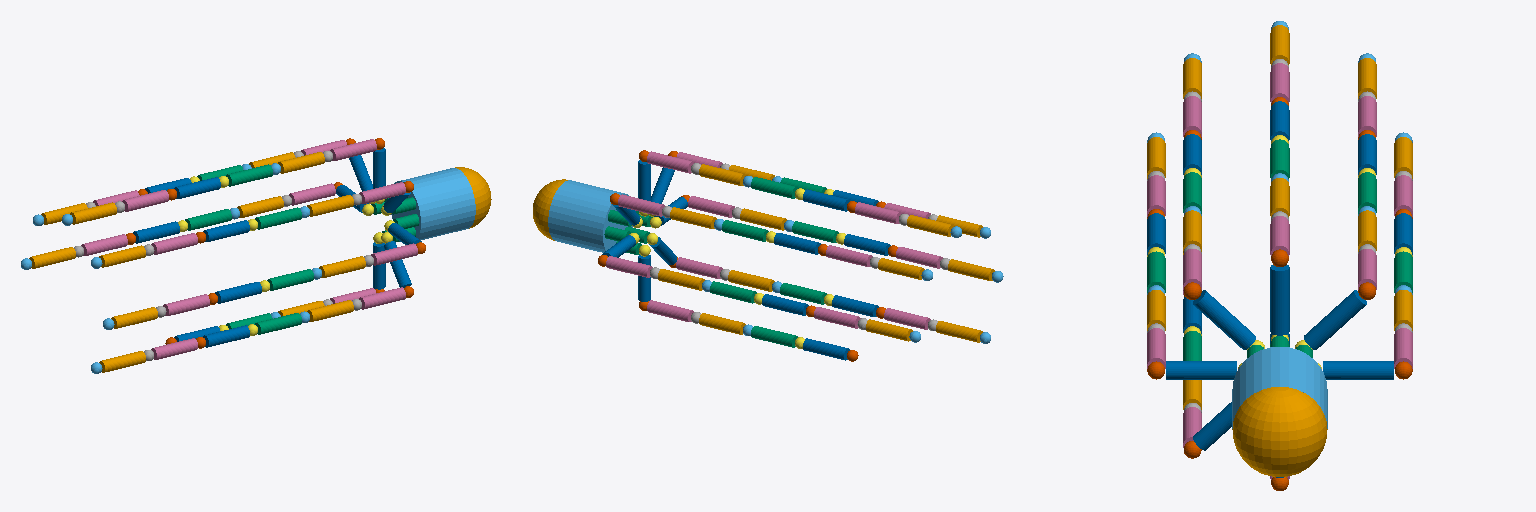
--- Render facts (derived) ---
3 views of the same robot in one strip: view 1: azimuth 30°, elevation 25°; view 2: azimuth 150°, elevation 25°; view 3: azimuth 270°, elevation 25° (orthographic).
Model sentinel/octopus_7_arms_4_segments with 110 links and 109 joints (40 revolute, 69 fixed), rooted at eye, posed all joints at 0.
Visible links, largest first — view 1: head, eye, branch_41_cylinder, branch_51_cylinder, branch_54_cylinder, branch_04_cylinder, branch_33_cylinder, branch_44_cylinder, branch_23_cylinder, branch_25_cylinder, branch_26_cylinder, branch_32_cylinder (+20 smaller); view 2: head, eye, branch_14_cylinder, branch_21_cylinder, branch_24_cylinder, branch_45_cylinder, branch_03_cylinder, branch_11_cylinder, branch_42_cylinder, branch_54_cylinder, branch_56_cylinder, branch_02_cylinder (+24 smaller); view 3: eye, head, branch_20_cylinder, branch_10_cylinder, branch_30_cylinder, branch_00_cylinder, branch_40_cylinder, branch_50_cylinder, branch_25_cylinder, branch_21_cylinder, branch_26_cylinder, branch_23_cylinder (+28 smaller).
Boxes of the visible links, left/top/right/bottom form: head: left=391, top=168, right=475, bottom=240; eye: left=455, top=167, right=491, bottom=228; branch_41_cylinder: left=371, top=243, right=417, bottom=265; branch_51_cylinder: left=359, top=287, right=405, bottom=309; branch_54_cylinder: left=203, top=325, right=249, bottom=347; branch_04_cylinder: left=133, top=221, right=179, bottom=243; branch_33_cylinder: left=255, top=207, right=301, bottom=229; branch_44_cylinder: left=215, top=282, right=261, bottom=303; branch_23_cylinder: left=226, top=164, right=272, bottom=186; branch_25_cylinder: left=122, top=190, right=168, bottom=211; branch_26_cylinder: left=70, top=202, right=116, bottom=224; branch_32_cylinder: left=307, top=195, right=353, bottom=216; head: left=548, top=180, right=632, bottom=252; eye: left=533, top=179, right=567, bottom=240; branch_14_cylinder: left=774, top=233, right=820, bottom=254; branch_21_cylinder: left=647, top=151, right=693, bottom=173; branch_24_cylinder: left=803, top=189, right=849, bottom=211; branch_45_cylinder: left=896, top=247, right=942, bottom=268; branch_03_cylinder: left=710, top=281, right=756, bottom=303; branch_11_cylinder: left=618, top=194, right=664, bottom=216; branch_42_cylinder: left=740, top=208, right=786, bottom=230; branch_54_cylinder: left=832, top=295, right=878, bottom=316; branch_56_cylinder: left=936, top=321, right=982, bottom=342; branch_02_cylinder: left=658, top=269, right=704, bottom=290; eye: left=1232, top=387, right=1327, bottom=476; head: left=1232, top=347, right=1327, bottom=428; branch_20_cylinder: left=1270, top=265, right=1289, bottom=335; branch_10_cylinder: left=1304, top=290, right=1366, bottom=349; branch_30_cylinder: left=1193, top=290, right=1255, bottom=349; branch_00_cylinder: left=1323, top=361, right=1393, bottom=379; branch_40_cylinder: left=1166, top=361, right=1236, bottom=379; branch_50_cylinder: left=1193, top=402, right=1231, bottom=450; branch_25_cylinder: left=1270, top=63, right=1289, bottom=102; branch_21_cylinder: left=1270, top=216, right=1289, bottom=255; branch_26_cylinder: left=1270, top=25, right=1289, bottom=64; branch_23_cylinder: left=1270, top=139, right=1289, bottom=178.
Bounding box of the posed robot: 1.55 × 0.56 × 0.5601 m (x, y, z).
Geometry: primitives only (box / cylinder / sphere), no mesh files.

robot.urdf — sentinel/octopus_7_arms_4_segments:
<?xml version="1.0"?>
<robot name="sentinel/octopus_7_arms_4_segments">
<link name="eye">
  <inertial>
   <mass value="1"/>
   <inertia ixx="0.004000000000000001" ixy="0" ixz="0" iyy="0.004000000000000001" iyz="0" izz="0.004000000000000001"/>
  </inertial>
  <collision>
    <origin rpy="0 0 0" xyz="0 0 0"/>
    <geometry>
      <sphere radius="0.1"/>
    </geometry>
  </collision>
  <visual>
    <origin rpy="0 0 0" xyz="0 0 0"/>
    <geometry>
      <sphere radius="0.1"/>
    </geometry>
  </visual>
</link>

 <link name="head">
  <inertial>
    <mass value="1"/>
    <inertia ixx="0.0058333333333333345" ixy="0" ixz="0" iyy="0.0058333333333333345" iyz="0" izz="0.0025000000000000005"/>
  </inertial>
  <visual>
    <origin rpy="0 1.57 0" xyz="-0.1 0 0"/>
    <geometry>
      <cylinder length="0.2" radius="0.1"/>
    </geometry>
  </visual>
  <collision>
    <origin rpy="0 1.57 0" xyz="-0.1 0 0"/>
    <geometry>
      <cylinder length="0.2" radius="0.1"/>
    </geometry>
  </collision>
 </link>

<joint name="joint_fixed_eye_head" type="fixed">
  <origin rpy="0 0 0" xyz="0 0 0"/>
  <parent link="eye"/>
  <child link="head"/>
</joint>

<!--############################################################################
branch_00
##############################################################################-->
 <link name="branch_00_cylinder_stub">
  <inertial>
    <mass value="1"/>
    <inertia ixx="0.0005687499999999999" ixy="0" ixz="0" iyy="0.0005687499999999999" iyz="0" izz="0.0001"/>
  </inertial>
  <visual>
    <origin rpy="0 1.57 0" xyz="-0.0375 0 0"/>
    <geometry>
      <cylinder length="0.075" radius="0.02"/>
    </geometry>
  </visual>
  <collision>
    <origin rpy="0 1.57 0" xyz="-0.0375 0 0"/>
    <geometry>
      <cylinder length="0.075" radius="0.02"/>
    </geometry>
  </collision>
 </link>

<joint name="joint_fixed_head_branch_00_cylinder_stub" type="fixed">
  <origin rpy="0 0 0" xyz="-0.2 0.06999999999999999 0.0"/>
  <parent link="head"/>
  <child link="branch_00_cylinder_stub"/>
</joint>

<link name="branch_00_sphere_stub">
  <inertial>
   <mass value="1"/>
   <inertia ixx="0.00014439999999999999" ixy="0" ixz="0" iyy="0.00014439999999999999" iyz="0" izz="0.00014439999999999999"/>
  </inertial>
  <collision>
    <origin rpy="0 0 0" xyz="-0.095 0 0"/>
    <geometry>
      <sphere radius="0.019"/>
    </geometry>
  </collision>
  <visual>
    <origin rpy="0 0 0" xyz="-0.095 0 0"/>
    <geometry>
      <sphere radius="0.019"/>
    </geometry>
  </visual>
</link>

<joint name="joint_fixed_branch_00_cylinder_stub_branch_00_sphere_stub" type="fixed">
  <origin rpy="0 0 0" xyz="0 0 0"/>
  <parent link="branch_00_cylinder_stub"/>
  <child link="branch_00_sphere_stub"/>
</joint>

 <link name="branch_00_cylinder">
  <inertial>
    <mass value="1"/>
    <inertia ixx="0.0019749999999999998" ixy="0" ixz="0" iyy="0.0019749999999999998" iyz="0" izz="0.0001"/>
  </inertial>
  <visual>
    <origin rpy="0 1.5707963267948966 1.57" xyz="-0.095 0.095 0.0"/>
    <geometry>
      <cylinder length="0.15" radius="0.02"/>
    </geometry>
  </visual>
  <collision>
    <origin rpy="0 1.5707963267948966 1.57" xyz="-0.095 0.095 0.0"/>
    <geometry>
      <cylinder length="0.15" radius="0.02"/>
    </geometry>
  </collision>
 </link>

<joint name="joint_fixed_branch_00_sphere_stub_branch_00_cylinder" type="fixed">
  <origin rpy="0 0 0" xyz="0 0 0"/>
  <parent link="branch_00_sphere_stub"/>
  <child link="branch_00_cylinder"/>
</joint>

<link name="branch_00">
  <inertial>
   <mass value="1"/>
   <inertia ixx="0.00014439999999999999" ixy="0" ixz="0" iyy="0.00014439999999999999" iyz="0" izz="0.00014439999999999999"/>
  </inertial>
  <collision>
    <origin rpy="0 0 0" xyz="0 0 0"/>
    <geometry>
      <sphere radius="0.019"/>
    </geometry>
  </collision>
  <visual>
    <origin rpy="0 0 0" xyz="0 0 0"/>
    <geometry>
      <sphere radius="0.019"/>
    </geometry>
  </visual>
</link>

<joint name="joint_fixed_branch_00_cylinder_branch_00" type="fixed">
  <origin rpy="0 0 0" xyz="-0.095 0.19 0.0"/>
  <parent link="branch_00_cylinder"/>
  <child link="branch_00"/>
</joint>

<!--############################################################################
branch_01
##############################################################################-->
 <link name="branch_01_cylinder">
  <inertial>
    <mass value="1"/>
    <inertia ixx="0.0019749999999999998" ixy="0" ixz="0" iyy="0.0019749999999999998" iyz="0" izz="0.0001"/>
  </inertial>
  <visual>
    <origin rpy="0 1.57 0" xyz="-0.095 0 0"/>
    <geometry>
      <cylinder length="0.15" radius="0.02"/>
    </geometry>
  </visual>
  <collision>
    <origin rpy="0 1.57 0" xyz="-0.095 0 0"/>
    <geometry>
      <cylinder length="0.15" radius="0.02"/>
    </geometry>
  </collision>
 </link>

<joint name="joint_revolute_branch_00_branch_01_cylinder_Z" type="revolute">
  <origin rpy="0 0 0" xyz="0 0 0"/>
  <parent link="branch_00"/>
  <child link="branch_01_cylinder"/>
  <axis xyz="0 0.0 -1.0"/>
  <dynamics damping="0.01" friction="0.5"/>
  <limit lower="-1.5707963267948966" upper="1.5707963267948966" effort="0.01" velocity="100"/>
</joint>

<link name="branch_01">
  <inertial>
   <mass value="1"/>
   <inertia ixx="0.00014439999999999999" ixy="0" ixz="0" iyy="0.00014439999999999999" iyz="0" izz="0.00014439999999999999"/>
  </inertial>
  <collision>
    <origin rpy="0 0 0" xyz="0 0 0"/>
    <geometry>
      <sphere radius="0.019"/>
    </geometry>
  </collision>
  <visual>
    <origin rpy="0 0 0" xyz="0 0 0"/>
    <geometry>
      <sphere radius="0.019"/>
    </geometry>
  </visual>
</link>

<joint name="joint_fixed_branch_01_cylinder_branch_01" type="fixed">
  <origin rpy="0 0 0" xyz="-0.19 0 0"/>
  <parent link="branch_01_cylinder"/>
  <child link="branch_01"/>
</joint>

<!--############################################################################
branch_02
##############################################################################-->
 <link name="branch_02_cylinder">
  <inertial>
    <mass value="1"/>
    <inertia ixx="0.0019749999999999998" ixy="0" ixz="0" iyy="0.0019749999999999998" iyz="0" izz="0.0001"/>
  </inertial>
  <visual>
    <origin rpy="0 1.57 0" xyz="-0.095 0 0"/>
    <geometry>
      <cylinder length="0.15" radius="0.02"/>
    </geometry>
  </visual>
  <collision>
    <origin rpy="0 1.57 0" xyz="-0.095 0 0"/>
    <geometry>
      <cylinder length="0.15" radius="0.02"/>
    </geometry>
  </collision>
 </link>

<joint name="joint_revolute_branch_01_branch_02_cylinder_Z" type="revolute">
  <origin rpy="0 0 0" xyz="0 0 0"/>
  <parent link="branch_01"/>
  <child link="branch_02_cylinder"/>
  <axis xyz="0 0.0 -1.0"/>
  <dynamics damping="0.01" friction="0.5"/>
  <limit lower="-1.5707963267948966" upper="1.5707963267948966" effort="0.01" velocity="100"/>
</joint>

<link name="branch_02">
  <inertial>
   <mass value="1"/>
   <inertia ixx="0.00014439999999999999" ixy="0" ixz="0" iyy="0.00014439999999999999" iyz="0" izz="0.00014439999999999999"/>
  </inertial>
  <collision>
    <origin rpy="0 0 0" xyz="0 0 0"/>
    <geometry>
      <sphere radius="0.019"/>
    </geometry>
  </collision>
  <visual>
    <origin rpy="0 0 0" xyz="0 0 0"/>
    <geometry>
      <sphere radius="0.019"/>
    </geometry>
  </visual>
</link>

<joint name="joint_fixed_branch_02_cylinder_branch_02" type="fixed">
  <origin rpy="0 0 0" xyz="-0.19 0 0"/>
  <parent link="branch_02_cylinder"/>
  <child link="branch_02"/>
</joint>

<!--############################################################################
branch_03
##############################################################################-->
 <link name="branch_03_cylinder">
  <inertial>
    <mass value="1"/>
    <inertia ixx="0.0019749999999999998" ixy="0" ixz="0" iyy="0.0019749999999999998" iyz="0" izz="0.0001"/>
  </inertial>
  <visual>
    <origin rpy="0 1.57 0" xyz="-0.095 0 0"/>
    <geometry>
      <cylinder length="0.15" radius="0.02"/>
    </geometry>
  </visual>
  <collision>
    <origin rpy="0 1.57 0" xyz="-0.095 0 0"/>
    <geometry>
      <cylinder length="0.15" radius="0.02"/>
    </geometry>
  </collision>
 </link>

<joint name="joint_revolute_branch_02_branch_03_cylinder_Z" type="revolute">
  <origin rpy="0 0 0" xyz="0 0 0"/>
  <parent link="branch_02"/>
  <child link="branch_03_cylinder"/>
  <axis xyz="0 0.0 -1.0"/>
  <dynamics damping="0.01" friction="0.5"/>
  <limit lower="-1.5707963267948966" upper="1.5707963267948966" effort="0.01" velocity="100"/>
</joint>

<link name="branch_03">
  <inertial>
   <mass value="1"/>
   <inertia ixx="0.00014439999999999999" ixy="0" ixz="0" iyy="0.00014439999999999999" iyz="0" izz="0.00014439999999999999"/>
  </inertial>
  <collision>
    <origin rpy="0 0 0" xyz="0 0 0"/>
    <geometry>
      <sphere radius="0.019"/>
    </geometry>
  </collision>
  <visual>
    <origin rpy="0 0 0" xyz="0 0 0"/>
    <geometry>
      <sphere radius="0.019"/>
    </geometry>
  </visual>
</link>

<joint name="joint_fixed_branch_03_cylinder_branch_03" type="fixed">
  <origin rpy="0 0 0" xyz="-0.19 0 0"/>
  <parent link="branch_03_cylinder"/>
  <child link="branch_03"/>
</joint>

<!--############################################################################
branch_04
##############################################################################-->
 <link name="branch_04_cylinder">
  <inertial>
    <mass value="1"/>
    <inertia ixx="0.0019749999999999998" ixy="0" ixz="0" iyy="0.0019749999999999998" iyz="0" izz="0.0001"/>
  </inertial>
  <visual>
    <origin rpy="0 1.57 0" xyz="-0.095 0 0"/>
    <geometry>
      <cylinder length="0.15" radius="0.02"/>
    </geometry>
  </visual>
  <collision>
    <origin rpy="0 1.57 0" xyz="-0.095 0 0"/>
    <geometry>
      <cylinder length="0.15" radius="0.02"/>
    </geometry>
  </collision>
 </link>

<joint name="joint_revolute_branch_03_branch_04_cylinder_Z" type="revolute">
  <origin rpy="0 0 0" xyz="0 0 0"/>
  <parent link="branch_03"/>
  <child link="branch_04_cylinder"/>
  <axis xyz="0 0.0 -1.0"/>
  <dynamics damping="0.01" friction="0.5"/>
  <limit lower="-1.5707963267948966" upper="1.5707963267948966" effort="0.01" velocity="100"/>
</joint>

<link name="branch_04">
  <inertial>
   <mass value="1"/>
   <inertia ixx="0.00014439999999999999" ixy="0" ixz="0" iyy="0.00014439999999999999" iyz="0" izz="0.00014439999999999999"/>
  </inertial>
  <collision>
    <origin rpy="0 0 0" xyz="0 0 0"/>
    <geometry>
      <sphere radius="0.019"/>
    </geometry>
  </collision>
  <visual>
    <origin rpy="0 0 0" xyz="0 0 0"/>
    <geometry>
      <sphere radius="0.019"/>
    </geometry>
  </visual>
</link>

<joint name="joint_fixed_branch_04_cylinder_branch_04" type="fixed">
  <origin rpy="0 0 0" xyz="-0.19 0 0"/>
  <parent link="branch_04_cylinder"/>
  <child link="branch_04"/>
</joint>

<!--############################################################################
branch_05
##############################################################################-->
 <link name="branch_05_cylinder">
  <inertial>
    <mass value="1"/>
    <inertia ixx="0.0019749999999999998" ixy="0" ixz="0" iyy="0.0019749999999999998" iyz="0" izz="0.0001"/>
  </inertial>
  <visual>
    <origin rpy="0 1.57 0" xyz="-0.095 0 0"/>
    <geometry>
      <cylinder length="0.15" radius="0.02"/>
    </geometry>
  </visual>
  <collision>
    <origin rpy="0 1.57 0" xyz="-0.095 0 0"/>
    <geometry>
      <cylinder length="0.15" radius="0.02"/>
    </geometry>
  </collision>
 </link>

<joint name="joint_revolute_branch_04_branch_05_cylinder_Z" type="revolute">
  <origin rpy="0 0 0" xyz="0 0 0"/>
  <parent link="branch_04"/>
  <child link="branch_05_cylinder"/>
  <axis xyz="0 0.0 -1.0"/>
  <dynamics damping="0.01" friction="0.5"/>
  <limit lower="-1.5707963267948966" upper="1.5707963267948966" effort="0.01" velocity="100"/>
</joint>

<link name="branch_05">
  <inertial>
   <mass value="1"/>
   <inertia ixx="0.00014439999999999999" ixy="0" ixz="0" iyy="0.00014439999999999999" iyz="0" izz="0.00014439999999999999"/>
  </inertial>
  <collision>
    <origin rpy="0 0 0" xyz="0 0 0"/>
    <geometry>
      <sphere radius="0.019"/>
    </geometry>
  </collision>
  <visual>
    <origin rpy="0 0 0" xyz="0 0 0"/>
    <geometry>
      <sphere radius="0.019"/>
    </geometry>
  </visual>
</link>

<joint name="joint_fixed_branch_05_cylinder_branch_05" type="fixed">
  <origin rpy="0 0 0" xyz="-0.19 0 0"/>
  <parent link="branch_05_cylinder"/>
  <child link="branch_05"/>
</joint>

<!--############################################################################
branch_06
##############################################################################-->
 <link name="branch_06_cylinder">
  <inertial>
    <mass value="1"/>
    <inertia ixx="0.0019749999999999998" ixy="0" ixz="0" iyy="0.0019749999999999998" iyz="0" izz="0.0001"/>
  </inertial>
  <visual>
    <origin rpy="0 1.57 0" xyz="-0.095 0 0"/>
    <geometry>
      <cylinder length="0.15" radius="0.02"/>
    </geometry>
  </visual>
  <collision>
    <origin rpy="0 1.57 0" xyz="-0.095 0 0"/>
    <geometry>
      <cylinder length="0.15" radius="0.02"/>
    </geometry>
  </collision>
 </link>

<joint name="joint_revolute_branch_05_branch_06_cylinder_Z" type="revolute">
  <origin rpy="0 0 0" xyz="0 0 0"/>
  <parent link="branch_05"/>
  <child link="branch_06_cylinder"/>
  <axis xyz="0 0.0 -1.0"/>
  <dynamics damping="0.01" friction="0.5"/>
  <limit lower="-1.5707963267948966" upper="1.5707963267948966" effort="0.01" velocity="100"/>
</joint>

<link name="branch_06">
  <inertial>
   <mass value="1"/>
   <inertia ixx="0.00014439999999999999" ixy="0" ixz="0" iyy="0.00014439999999999999" iyz="0" izz="0.00014439999999999999"/>
  </inertial>
  <collision>
    <origin rpy="0 0 0" xyz="0 0 0"/>
    <geometry>
      <sphere radius="0.019"/>
    </geometry>
  </collision>
  <visual>
    <origin rpy="0 0 0" xyz="0 0 0"/>
    <geometry>
      <sphere radius="0.019"/>
    </geometry>
  </visual>
</link>

<joint name="joint_fixed_branch_06_cylinder_branch_06" type="fixed">
  <origin rpy="0 0 0" xyz="-0.19 0 0"/>
  <parent link="branch_06_cylinder"/>
  <child link="branch_06"/>
</joint>

<!--############################################################################
branch_10
##############################################################################-->
 <link name="branch_10_cylinder_stub">
  <inertial>
    <mass value="1"/>
    <inertia ixx="0.0005687499999999999" ixy="0" ixz="0" iyy="0.0005687499999999999" iyz="0" izz="0.0001"/>
  </inertial>
  <visual>
    <origin rpy="0 1.57 0" xyz="-0.0375 0 0"/>
    <geometry>
      <cylinder length="0.075" radius="0.02"/>
    </geometry>
  </visual>
  <collision>
    <origin rpy="0 1.57 0" xyz="-0.0375 0 0"/>
    <geometry>
      <cylinder length="0.075" radius="0.02"/>
    </geometry>
  </collision>
 </link>

<joint name="joint_fixed_head_branch_10_cylinder_stub" type="fixed">
  <origin rpy="0 0 0" xyz="-0.2 0.049497474683058325 0.04949747468305832"/>
  <parent link="head"/>
  <child link="branch_10_cylinder_stub"/>
</joint>

<link name="branch_10_sphere_stub">
  <inertial>
   <mass value="1"/>
   <inertia ixx="0.00014439999999999999" ixy="0" ixz="0" iyy="0.00014439999999999999" iyz="0" izz="0.00014439999999999999"/>
  </inertial>
  <collision>
    <origin rpy="0 0 0" xyz="-0.095 0 0"/>
    <geometry>
      <sphere radius="0.019"/>
    </geometry>
  </collision>
  <visual>
    <origin rpy="0 0 0" xyz="-0.095 0 0"/>
    <geometry>
      <sphere radius="0.019"/>
    </geometry>
  </visual>
</link>

<joint name="joint_fixed_branch_10_cylinder_stub_branch_10_sphere_stub" type="fixed">
  <origin rpy="0 0 0" xyz="0 0 0"/>
  <parent link="branch_10_cylinder_stub"/>
  <child link="branch_10_sphere_stub"/>
</joint>

 <link name="branch_10_cylinder">
  <inertial>
    <mass value="1"/>
    <inertia ixx="0.0019749999999999998" ixy="0" ixz="0" iyy="0.0019749999999999998" iyz="0" izz="0.0001"/>
  </inertial>
  <visual>
    <origin rpy="0 0.7853981633974484 1.57" xyz="-0.095 0.06717514421272201 0.06717514421272201"/>
    <geometry>
      <cylinder length="0.15" radius="0.02"/>
    </geometry>
  </visual>
  <collision>
    <origin rpy="0 0.7853981633974484 1.57" xyz="-0.095 0.06717514421272201 0.06717514421272201"/>
    <geometry>
      <cylinder length="0.15" radius="0.02"/>
    </geometry>
  </collision>
 </link>

<joint name="joint_fixed_branch_10_sphere_stub_branch_10_cylinder" type="fixed">
  <origin rpy="0 0 0" xyz="0 0 0"/>
  <parent link="branch_10_sphere_stub"/>
  <child link="branch_10_cylinder"/>
</joint>

<link name="branch_10">
  <inertial>
   <mass value="1"/>
   <inertia ixx="0.00014439999999999999" ixy="0" ixz="0" iyy="0.00014439999999999999" iyz="0" izz="0.00014439999999999999"/>
  </inertial>
  <collision>
    <origin rpy="0 0 0" xyz="0 0 0"/>
    <geometry>
      <sphere radius="0.019"/>
    </geometry>
  </collision>
  <visual>
    <origin rpy="0 0 0" xyz="0 0 0"/>
    <geometry>
      <sphere radius="0.019"/>
    </geometry>
  </visual>
</link>

<joint name="joint_fixed_branch_10_cylinder_branch_10" type="fixed">
  <origin rpy="0 0 0" xyz="-0.095 0.13435028842544403 0.13435028842544403"/>
  <parent link="branch_10_cylinder"/>
  <child link="branch_10"/>
</joint>

<!--############################################################################
branch_11
##############################################################################-->
 <link name="branch_11_cylinder">
  <inertial>
    <mass value="1"/>
    <inertia ixx="0.0019749999999999998" ixy="0" ixz="0" iyy="0.0019749999999999998" iyz="0" izz="0.0001"/>
  </inertial>
  <visual>
    <origin rpy="0 1.57 0" xyz="-0.095 0 0"/>
    <geometry>
      <cylinder length="0.15" radius="0.02"/>
    </geometry>
  </visual>
  <collision>
    <origin rpy="0 1.57 0" xyz="-0.095 0 0"/>
    <geometry>
      <cylinder length="0.15" radius="0.02"/>
    </geometry>
  </collision>
 </link>

<joint name="joint_revolute_branch_10_branch_11_cylinder_Z" type="revolute">
  <origin rpy="0 0 0" xyz="0 0 0"/>
  <parent link="branch_10"/>
  <child link="branch_11_cylinder"/>
  <axis xyz="0 0.7071067811865475 -0.7071067811865476"/>
  <dynamics damping="0.01" friction="0.5"/>
  <limit lower="-1.5707963267948966" upper="1.5707963267948966" effort="0.01" velocity="100"/>
</joint>

<link name="branch_11">
  <inertial>
   <mass value="1"/>
   <inertia ixx="0.00014439999999999999" ixy="0" ixz="0" iyy="0.00014439999999999999" iyz="0" izz="0.00014439999999999999"/>
  </inertial>
  <collision>
    <origin rpy="0 0 0" xyz="0 0 0"/>
    <geometry>
      <sphere radius="0.019"/>
    </geometry>
  </collision>
  <visual>
    <origin rpy="0 0 0" xyz="0 0 0"/>
    <geometry>
      <sphere radius="0.019"/>
    </geometry>
  </visual>
</link>

<joint name="joint_fixed_branch_11_cylinder_branch_11" type="fixed">
  <origin rpy="0 0 0" xyz="-0.19 0 0"/>
  <parent link="branch_11_cylinder"/>
  <child link="branch_11"/>
</joint>

<!--############################################################################
branch_12
##############################################################################-->
 <link name="branch_12_cylinder">
  <inertial>
    <mass value="1"/>
    <inertia ixx="0.0019749999999999998" ixy="0" ixz="0" iyy="0.0019749999999999998" iyz="0" izz="0.0001"/>
  </inertial>
  <visual>
    <origin rpy="0 1.57 0" xyz="-0.095 0 0"/>
    <geometry>
      <cylinder length="0.15" radius="0.02"/>
    </geometry>
  </visual>
  <collision>
    <origin rpy="0 1.57 0" xyz="-0.095 0 0"/>
    <geometry>
      <cylinder length="0.15" radius="0.02"/>
    </geometry>
  </collision>
 </link>

<joint name="joint_revolute_branch_11_branch_12_cylinder_Z" type="revolute">
  <origin rpy="0 0 0" xyz="0 0 0"/>
  <parent link="branch_11"/>
  <child link="branch_12_cylinder"/>
  <axis xyz="0 0.7071067811865475 -0.7071067811865476"/>
  <dynamics damping="0.01" friction="0.5"/>
  <limit lower="-1.5707963267948966" upper="1.5707963267948966" effort="0.01" velocity="100"/>
</joint>

<link name="branch_12">
  <inertial>
   <mass value="1"/>
   <inertia ixx="0.00014439999999999999" ixy="0" ixz="0" iyy="0.00014439999999999999" iyz="0" izz="0.00014439999999999999"/>
  </inertial>
  <collision>
    <origin rpy="0 0 0" xyz="0 0 0"/>
    <geometry>
      <sphere radius="0.019"/>
    </geometry>
  </collision>
  <visual>
    <origin rpy="0 0 0" xyz="0 0 0"/>
    <geometry>
      <sphere radius="0.019"/>
    </geometry>
  </visual>
</link>

<joint name="joint_fixed_branch_12_cylinder_branch_12" type="fixed">
  <origin rpy="0 0 0" xyz="-0.19 0 0"/>
  <parent link="branch_12_cylinder"/>
  <child link="branch_12"/>
</joint>

<!--############################################################################
branch_13
##############################################################################-->
 <link name="branch_13_cylinder">
  <inertial>
    <mass value="1"/>
    <inertia ixx="0.0019749999999999998" ixy="0" ixz="0" iyy="0.0019749999999999998" iyz="0" izz="0.0001"/>
  </inertial>
  <visual>
    <origin rpy="0 1.57 0" xyz="-0.095 0 0"/>
    <geometry>
      <cylinder length="0.15" radius="0.02"/>
    </geometry>
  </visual>
  <collision>
    <origin rpy="0 1.57 0" xyz="-0.095 0 0"/>
    <geometry>
      <cylinder length="0.15" radius="0.02"/>
    </geometry>
  </collision>
 </link>

<joint name="joint_revolute_branch_12_branch_13_cylinder_Z" type="revolute">
  <origin rpy="0 0 0" xyz="0 0 0"/>
  <parent link="branch_12"/>
  <child link="branch_13_cylinder"/>
  <axis xyz="0 0.7071067811865475 -0.7071067811865476"/>
  <dynamics damping="0.01" friction="0.5"/>
  <limit lower="-1.5707963267948966" upper="1.5707963267948966" effort="0.01" velocity="100"/>
</joint>

<link name="branch_13">
  <inertial>
   <mass value="1"/>
   <inertia ixx="0.00014439999999999999" ixy="0" ixz="0" iyy="0.00014439999999999999" iyz="0" izz="0.00014439999999999999"/>
  </inertial>
  <collision>
    <origin rpy="0 0 0" xyz="0 0 0"/>
    <geometry>
      <sphere radius="0.019"/>
    </geometry>
  </collision>
  <visual>
    <origin rpy="0 0 0" xyz="0 0 0"/>
    <geometry>
      <sphere radius="0.019"/>
    </geometry>
  </visual>
</link>

<joint name="joint_fixed_branch_13_cylinder_branch_13" type="fixed">
  <origin rpy="0 0 0" xyz="-0.19 0 0"/>
  <parent link="branch_13_cylinder"/>
  <child link="branch_13"/>
</joint>

<!--############################################################################
branch_14
##############################################################################-->
 <link name="branch_14_cylinder">
  <inertial>
    <mass value="1"/>
    <inertia ixx="0.0019749999999999998" ixy="0" ixz="0" iyy="0.0019749999999999998" iyz="0" izz="0.0001"/>
  </inertial>
  <visual>
    <origin rpy="0 1.57 0" xyz="-0.095 0 0"/>
    <geometry>
      <cylinder length="0.15" radius="0.02"/>
    </geometry>
  </visual>
  <collision>
    <origin rpy="0 1.57 0" xyz="-0.095 0 0"/>
    <geometry>
      <cylinder length="0.15" radius="0.02"/>
    </geometry>
  </collision>
 </link>

<joint name="joint_revolute_branch_13_branch_14_cylinder_Z" type="revolute">
  <origin rpy="0 0 0" xyz="0 0 0"/>
  <parent link="branch_13"/>
  <child link="branch_14_cylinder"/>
  <axis xyz="0 0.7071067811865475 -0.7071067811865476"/>
  <dynamics damping="0.01" friction="0.5"/>
  <limit lower="-1.5707963267948966" upper="1.5707963267948966" effort="0.01" velocity="100"/>
</joint>

<link name="branch_14">
  <inertial>
   <mass value="1"/>
   <inertia ixx="0.00014439999999999999" ixy="0" ixz="0" iyy="0.00014439999999999999" iyz="0" izz="0.00014439999999999999"/>
  </inertial>
  <collision>
    <origin rpy="0 0 0" xyz="0 0 0"/>
    <geometry>
      <sphere radius="0.019"/>
    </geometry>
  </collision>
  <visual>
    <origin rpy="0 0 0" xyz="0 0 0"/>
    <geometry>
      <sphere radius="0.019"/>
    </geometry>
  </visual>
</link>

<joint name="joint_fixed_branch_14_cylinder_branch_14" type="fixed">
  <origin rpy="0 0 0" xyz="-0.19 0 0"/>
  <parent link="branch_14_cylinder"/>
  <child link="branch_14"/>
</joint>

<!--############################################################################
branch_15
##############################################################################-->
 <link name="branch_15_cylinder">
  <inertial>
    <mass value="1"/>
    <inertia ixx="0.0019749999999999998" ixy="0" ixz="0" iyy="0.0019749999999999998" iyz="0" izz="0.0001"/>
  </inertial>
  <visual>
    <origin rpy="0 1.57 0" xyz="-0.095 0 0"/>
    <geometry>
      <cylinder length="0.15" radius="0.02"/>
    </geometry>
  </visual>
  <collision>
    <origin rpy="0 1.57 0" xyz="-0.095 0 0"/>
    <geometry>
      <cylinder length="0.15" radius="0.02"/>
    </geometry>
  </collision>
 </link>

<joint name="joint_revolute_branch_14_branch_15_cylinder_Z" type="revolute">
  <origin rpy="0 0 0" xyz="0 0 0"/>
  <parent link="branch_14"/>
  <child link="branch_15_cylinder"/>
  <axis xyz="0 0.7071067811865475 -0.7071067811865476"/>
  <dynamics damping="0.01" friction="0.5"/>
  <limit lower="-1.5707963267948966" upper="1.5707963267948966" effort="0.01" velocity="100"/>
</joint>

<link name="branch_15">
  <inertial>
   <mass value="1"/>
   <inertia ixx="0.00014439999999999999" ixy="0" ixz="0" iyy="0.00014439999999999999" iyz="0" izz="0.00014439999999999999"/>
  </inertial>
  <collision>
    <origin rpy="0 0 0" xyz="0 0 0"/>
    <geometry>
      <sphere radius="0.019"/>
    </geometry>
  </collision>
  <visual>
    <origin rpy="0 0 0" xyz="0 0 0"/>
    <geometry>
      <sphere radius="0.019"/>
    </geometry>
  </visual>
</link>

<joint name="joint_fixed_branch_15_cylinder_branch_15" type="fixed">
  <origin rpy="0 0 0" xyz="-0.19 0 0"/>
  <parent link="branch_15_cylinder"/>
  <child link="branch_15"/>
</joint>

<!--############################################################################
branch_16
##############################################################################-->
 <link name="branch_16_cylinder">
  <inertial>
    <mass value="1"/>
    <inertia ixx="0.0019749999999999998" ixy="0" ixz="0" iyy="0.0019749999999999998" iyz="0" izz="0.0001"/>
  </inertial>
  <visual>
    <origin rpy="0 1.57 0" xyz="-0.095 0 0"/>
    <geometry>
      <cylinder length="0.15" radius="0.02"/>
    </geometry>
  </visual>
  <collision>
    <origin rpy="0 1.57 0" xyz="-0.095 0 0"/>
    <geometry>
      <cylinder length="0.15" radius="0.02"/>
    </geometry>
  </collision>
 </link>

<joint name="joint_revolute_branch_15_branch_16_cylinder_Z" type="revolute">
  <origin rpy="0 0 0" xyz="0 0 0"/>
  <parent link="branch_15"/>
  <child link="branch_16_cylinder"/>
  <axis xyz="0 0.7071067811865475 -0.7071067811865476"/>
  <dynamics damping="0.01" friction="0.5"/>
  <limit lower="-1.5707963267948966" upper="1.5707963267948966" effort="0.01" velocity="100"/>
</joint>

<link name="branch_16">
  <inertial>
   <mass value="1"/>
   <inertia ixx="0.00014439999999999999" ixy="0" ixz="0" iyy="0.00014439999999999999" iyz="0" izz="0.00014439999999999999"/>
  </inertial>
  <collision>
    <origin rpy="0 0 0" xyz="0 0 0"/>
    <geometry>
      <sphere radius="0.019"/>
    </geometry>
  </collision>
  <visual>
    <origin rpy="0 0 0" xyz="0 0 0"/>
    <geometry>
      <sphere radius="0.019"/>
    </geometry>
  </visual>
</link>

<joint name="joint_fixed_branch_16_cylinder_branch_16" type="fixed">
  <origin rpy="0 0 0" xyz="-0.19 0 0"/>
  <parent link="branch_16_cylinder"/>
  <child link="branch_16"/>
</joint>

<!--############################################################################
branch_20
##############################################################################-->
 <link name="branch_20_cylinder_stub">
  <inertial>
    <mass value="1"/>
    <inertia ixx="0.0005687499999999999" ixy="0" ixz="0" iyy="0.0005687499999999999" iyz="0" izz="0.0001"/>
  </inertial>
  <visual>
    <origin rpy="0 1.57 0" xyz="-0.0375 0 0"/>
    <geometry>
      <cylinder length="0.075" radius="0.02"/>
    </geometry>
  </visual>
  <collision>
    <origin rpy="0 1.57 0" xyz="-0.0375 0 0"/>
    <geometry>
      <cylinder length="0.075" radius="0.02"/>
    </geometry>
  </collision>
 </link>

<joint name="joint_fixed_head_branch_20_cylinder_stub" type="fixed">
  <origin rpy="0 0 0" xyz="-0.2 4.286263797015736e-18 0.06999999999999999"/>
  <parent link="head"/>
  <child link="branch_20_cylinder_stub"/>
</joint>

<link name="branch_20_sphere_stub">
  <inertial>
   <mass value="1"/>
   <inertia ixx="0.00014439999999999999" ixy="0" ixz="0" iyy="0.00014439999999999999" iyz="0" izz="0.00014439999999999999"/>
  </inertial>
  <collision>
    <origin rpy="0 0 0" xyz="-0.095 0 0"/>
    <geometry>
      <sphere radius="0.019"/>
    </geometry>
  </collision>
  <visual>
    <origin rpy="0 0 0" xyz="-0.095 0 0"/>
    <geometry>
      <sphere radius="0.019"/>
    </geometry>
  </visual>
</link>

<joint name="joint_fixed_branch_20_cylinder_stub_branch_20_sphere_stub" type="fixed">
  <origin rpy="0 0 0" xyz="0 0 0"/>
  <parent link="branch_20_cylinder_stub"/>
  <child link="branch_20_sphere_stub"/>
</joint>

 <link name="branch_20_cylinder">
  <inertial>
    <mass value="1"/>
    <inertia ixx="0.0019749999999999998" ixy="0" ixz="0" iyy="0.0019749999999999998" iyz="0" izz="0.0001"/>
  </inertial>
  <visual>
    <origin rpy="0 6.123233995736766e-17 1.57" xyz="-0.095 5.817072295949928e-18 0.095"/>
    <geometry>
      <cylinder length="0.15" radius="0.02"/>
    </geometry>
  </visual>
  <collision>
    <origin rpy="0 6.123233995736766e-17 1.57" xyz="-0.095 5.817072295949928e-18 0.095"/>
    <geometry>
      <cylinder length="0.15" radius="0.02"/>
    </geometry>
  </collision>
 </link>

<joint name="joint_fixed_branch_20_sphere_stub_branch_20_cylinder" type="fixed">
  <origin rpy="0 0 0" xyz="0 0 0"/>
  <parent link="branch_20_sphere_stub"/>
  <child link="branch_20_cylinder"/>
</joint>

<link name="branch_20">
  <inertial>
   <mass value="1"/>
   <inertia ixx="0.00014439999999999999" ixy="0" ixz="0" iyy="0.00014439999999999999" iyz="0" izz="0.00014439999999999999"/>
  </inertial>
  <collision>
    <origin rpy="0 0 0" xyz="0 0 0"/>
    <geometry>
      <sphere radius="0.019"/>
    </geometry>
  </collision>
  <visual>
    <origin rpy="0 0 0" xyz="0 0 0"/>
    <geometry>
      <sphere radius="0.019"/>
    </geometry>
  </visual>
</link>

<joint name="joint_fixed_branch_20_cylinder_branch_20" type="fixed">
  <origin rpy="0 0 0" xyz="-0.095 1.1634144591899856e-17 0.19"/>
  <parent link="branch_20_cylinder"/>
  <child link="branch_20"/>
</joint>

<!--############################################################################
branch_21
##############################################################################-->
 <link name="branch_21_cylinder">
  <inertial>
    <mass value="1"/>
    <inertia ixx="0.0019749999999999998" ixy="0" ixz="0" iyy="0.0019749999999999998" iyz="0" izz="0.0001"/>
  </inertial>
  <visual>
    <origin rpy="0 1.57 0" xyz="-0.095 0 0"/>
    <geometry>
      <cylinder length="0.15" radius="0.02"/>
    </geometry>
  </visual>
  <collision>
    <origin rpy="0 1.57 0" xyz="-0.095 0 0"/>
    <geometry>
      <cylinder length="0.15" radius="0.02"/>
    </geometry>
  </collision>
 </link>

<joint name="joint_revolute_branch_20_branch_21_cylinder_Z" type="revolute">
  <origin rpy="0 0 0" xyz="0 0 0"/>
  <parent link="branch_20"/>
  <child link="branch_21_cylinder"/>
  <axis xyz="0 1.0 -6.123233995736766e-17"/>
  <dynamics damping="0.01" friction="0.5"/>
  <limit lower="-1.5707963267948966" upper="1.5707963267948966" effort="0.01" velocity="100"/>
</joint>

<link name="branch_21">
  <inertial>
   <mass value="1"/>
   <inertia ixx="0.00014439999999999999" ixy="0" ixz="0" iyy="0.00014439999999999999" iyz="0" izz="0.00014439999999999999"/>
  </inertial>
  <collision>
    <origin rpy="0 0 0" xyz="0 0 0"/>
    <geometry>
      <sphere radius="0.019"/>
    </geometry>
  </collision>
  <visual>
    <origin rpy="0 0 0" xyz="0 0 0"/>
    <geometry>
      <sphere radius="0.019"/>
    </geometry>
  </visual>
</link>

<joint name="joint_fixed_branch_21_cylinder_branch_21" type="fixed">
  <origin rpy="0 0 0" xyz="-0.19 0 0"/>
  <parent link="branch_21_cylinder"/>
  <child link="branch_21"/>
</joint>

<!--############################################################################
branch_22
##############################################################################-->
 <link name="branch_22_cylinder">
  <inertial>
    <mass value="1"/>
    <inertia ixx="0.0019749999999999998" ixy="0" ixz="0" iyy="0.0019749999999999998" iyz="0" izz="0.0001"/>
  </inertial>
  <visual>
    <origin rpy="0 1.57 0" xyz="-0.095 0 0"/>
    <geometry>
      <cylinder length="0.15" radius="0.02"/>
    </geometry>
  </visual>
  <collision>
    <origin rpy="0 1.57 0" xyz="-0.095 0 0"/>
    <geometry>
      <cylinder length="0.15" radius="0.02"/>
    </geometry>
  </collision>
 </link>

<joint name="joint_revolute_branch_21_branch_22_cylinder_Z" type="revolute">
  <origin rpy="0 0 0" xyz="0 0 0"/>
  <parent link="branch_21"/>
  <child link="branch_22_cylinder"/>
  <axis xyz="0 1.0 -6.123233995736766e-17"/>
  <dynamics damping="0.01" friction="0.5"/>
  <limit lower="-1.5707963267948966" upper="1.5707963267948966" effort="0.01" velocity="100"/>
</joint>

<link name="branch_22">
  <inertial>
   <mass value="1"/>
   <inertia ixx="0.00014439999999999999" ixy="0" ixz="0" iyy="0.00014439999999999999" iyz="0" izz="0.00014439999999999999"/>
  </inertial>
  <collision>
    <origin rpy="0 0 0" xyz="0 0 0"/>
    <geometry>
      <sphere radius="0.019"/>
    </geometry>
  </collision>
  <visual>
    <origin rpy="0 0 0" xyz="0 0 0"/>
    <geometry>
      <sphere radius="0.019"/>
    </geometry>
  </visual>
</link>

<joint name="joint_fixed_branch_22_cylinder_branch_22" type="fixed">
  <origin rpy="0 0 0" xyz="-0.19 0 0"/>
  <parent link="branch_22_cylinder"/>
  <child link="branch_22"/>
</joint>

<!--############################################################################
branch_23
##############################################################################-->
 <link name="branch_23_cylinder">
  <inertial>
    <mass value="1"/>
    <inertia ixx="0.0019749999999999998" ixy="0" ixz="0" iyy="0.0019749999999999998" iyz="0" izz="0.0001"/>
  </inertial>
  <visual>
    <origin rpy="0 1.57 0" xyz="-0.095 0 0"/>
    <geometry>
      <cylinder length="0.15" radius="0.02"/>
    </geometry>
  </visual>
  <collision>
    <origin rpy="0 1.57 0" xyz="-0.095 0 0"/>
    <geometry>
      <cylinder length="0.15" radius="0.02"/>
    </geometry>
  </collision>
 </link>

<joint name="joint_revolute_branch_22_branch_23_cylinder_Z" type="revolute">
  <origin rpy="0 0 0" xyz="0 0 0"/>
  <parent link="branch_22"/>
  <child link="branch_23_cylinder"/>
  <axis xyz="0 1.0 -6.123233995736766e-17"/>
  <dynamics damping="0.01" friction="0.5"/>
  <limit lower="-1.5707963267948966" upper="1.5707963267948966" effort="0.01" velocity="100"/>
</joint>

<link name="branch_23">
  <inertial>
   <mass value="1"/>
   <inertia ixx="0.00014439999999999999" ixy="0" ixz="0" iyy="0.00014439999999999999" iyz="0" izz="0.00014439999999999999"/>
  </inertial>
  <collision>
    <origin rpy="0 0 0" xyz="0 0 0"/>
    <geometry>
      <sphere radius="0.019"/>
    </geometry>
  </collision>
  <visual>
    <origin rpy="0 0 0" xyz="0 0 0"/>
    <geometry>
      <sphere radius="0.019"/>
    </geometry>
  </visual>
</link>

<joint name="joint_fixed_branch_23_cylinder_branch_23" type="fixed">
  <origin rpy="0 0 0" xyz="-0.19 0 0"/>
  <parent link="branch_23_cylinder"/>
  <child link="branch_23"/>
</joint>

<!--############################################################################
branch_24
##############################################################################-->
 <link name="branch_24_cylinder">
  <inertial>
    <mass value="1"/>
    <inertia ixx="0.0019749999999999998" ixy="0" ixz="0" iyy="0.0019749999999999998" iyz="0" izz="0.0001"/>
  </inertial>
  <visual>
    <origin rpy="0 1.57 0" xyz="-0.095 0 0"/>
    <geometry>
      <cylinder length="0.15" radius="0.02"/>
    </geometry>
  </visual>
  <collision>
    <origin rpy="0 1.57 0" xyz="-0.095 0 0"/>
    <geometry>
      <cylinder length="0.15" radius="0.02"/>
    </geometry>
  </collision>
 </link>

<joint name="joint_revolute_branch_23_branch_24_cylinder_Z" type="revolute">
  <origin rpy="0 0 0" xyz="0 0 0"/>
  <parent link="branch_23"/>
  <child link="branch_24_cylinder"/>
  <axis xyz="0 1.0 -6.123233995736766e-17"/>
  <dynamics damping="0.01" friction="0.5"/>
  <limit lower="-1.5707963267948966" upper="1.5707963267948966" effort="0.01" velocity="100"/>
</joint>

<link name="branch_24">
  <inertial>
   <mass value="1"/>
   <inertia ixx="0.00014439999999999999" ixy="0" ixz="0" iyy="0.00014439999999999999" iyz="0" izz="0.00014439999999999999"/>
  </inertial>
  <collision>
    <origin rpy="0 0 0" xyz="0 0 0"/>
    <geometry>
      <sphere radius="0.019"/>
    </geometry>
  </collision>
  <visual>
    <origin rpy="0 0 0" xyz="0 0 0"/>
    <geometry>
      <sphere radius="0.019"/>
    </geometry>
  </visual>
</link>

<joint name="joint_fixed_branch_24_cylinder_branch_24" type="fixed">
  <origin rpy="0 0 0" xyz="-0.19 0 0"/>
  <parent link="branch_24_cylinder"/>
  <child link="branch_24"/>
</joint>

<!--############################################################################
branch_25
##############################################################################-->
 <link name="branch_25_cylinder">
  <inertial>
    <mass value="1"/>
    <inertia ixx="0.0019749999999999998" ixy="0" ixz="0" iyy="0.0019749999999999998" iyz="0" izz="0.0001"/>
  </inertial>
  <visual>
    <origin rpy="0 1.57 0" xyz="-0.095 0 0"/>
    <geometry>
      <cylinder length="0.15" radius="0.02"/>
    </geometry>
  </visual>
  <collision>
    <origin rpy="0 1.57 0" xyz="-0.095 0 0"/>
    <geometry>
      <cylinder length="0.15" radius="0.02"/>
    </geometry>
  </collision>
 </link>

<joint name="joint_revolute_branch_24_branch_25_cylinder_Z" type="revolute">
  <origin rpy="0 0 0" xyz="0 0 0"/>
  <parent link="branch_24"/>
  <child link="branch_25_cylinder"/>
  <axis xyz="0 1.0 -6.123233995736766e-17"/>
  <dynamics damping="0.01" friction="0.5"/>
  <limit lower="-1.5707963267948966" upper="1.5707963267948966" effort="0.01" velocity="100"/>
</joint>

<link name="branch_25">
  <inertial>
   <mass value="1"/>
   <inertia ixx="0.00014439999999999999" ixy="0" ixz="0" iyy="0.00014439999999999999" iyz="0" izz="0.00014439999999999999"/>
  </inertial>
  <collision>
    <origin rpy="0 0 0" xyz="0 0 0"/>
    <geometry>
      <sphere radius="0.019"/>
    </geometry>
  </collision>
  <visual>
    <origin rpy="0 0 0" xyz="0 0 0"/>
    <geometry>
      <sphere radius="0.019"/>
    </geometry>
  </visual>
</link>

<joint name="joint_fixed_branch_25_cylinder_branch_25" type="fixed">
  <origin rpy="0 0 0" xyz="-0.19 0 0"/>
  <parent link="branch_25_cylinder"/>
  <child link="branch_25"/>
</joint>

<!--############################################################################
branch_26
##############################################################################-->
 <link name="branch_26_cylinder">
  <inertial>
    <mass value="1"/>
    <inertia ixx="0.0019749999999999998" ixy="0" ixz="0" iyy="0.0019749999999999998" iyz="0" izz="0.0001"/>
  </inertial>
  <visual>
    <origin rpy="0 1.57 0" xyz="-0.095 0 0"/>
    <geometry>
      <cylinder length="0.15" radius="0.02"/>
    </geometry>
  </visual>
  <collision>
    <origin rpy="0 1.57 0" xyz="-0.095 0 0"/>
    <geometry>
      <cylinder length="0.15" radius="0.02"/>
    </geometry>
  </collision>
 </link>

<joint name="joint_revolute_branch_25_branch_26_cylinder_Z" type="revolute">
  <origin rpy="0 0 0" xyz="0 0 0"/>
  <parent link="branch_25"/>
  <child link="branch_26_cylinder"/>
  <axis xyz="0 1.0 -6.123233995736766e-17"/>
  <dynamics damping="0.01" friction="0.5"/>
  <limit lower="-1.5707963267948966" upper="1.5707963267948966" effort="0.01" velocity="100"/>
</joint>

<link name="branch_26">
  <inertial>
   <mass value="1"/>
   <inertia ixx="0.00014439999999999999" ixy="0" ixz="0" iyy="0.00014439999999999999" iyz="0" izz="0.00014439999999999999"/>
  </inertial>
  <collision>
    <origin rpy="0 0 0" xyz="0 0 0"/>
    <geometry>
      <sphere radius="0.019"/>
    </geometry>
  </collision>
  <visual>
    <origin rpy="0 0 0" xyz="0 0 0"/>
    <geometry>
      <sphere radius="0.019"/>
    </geometry>
  </visual>
</link>

<joint name="joint_fixed_branch_26_cylinder_branch_26" type="fixed">
  <origin rpy="0 0 0" xyz="-0.19 0 0"/>
  <parent link="branch_26_cylinder"/>
  <child link="branch_26"/>
</joint>

<!--############################################################################
branch_30
##############################################################################-->
 <link name="branch_30_cylinder_stub">
  <inertial>
    <mass value="1"/>
    <inertia ixx="0.0005687499999999999" ixy="0" ixz="0" iyy="0.0005687499999999999" iyz="0" izz="0.0001"/>
  </inertial>
  <visual>
    <origin rpy="0 1.57 0" xyz="-0.0375 0 0"/>
    <geometry>
      <cylinder length="0.075" radius="0.02"/>
    </geometry>
  </visual>
  <collision>
    <origin rpy="0 1.57 0" xyz="-0.0375 0 0"/>
    <geometry>
      <cylinder length="0.075" radius="0.02"/>
    </geometry>
  </collision>
 </link>

<joint name="joint_fixed_head_branch_30_cylinder_stub" type="fixed">
  <origin rpy="0 0 0" xyz="-0.2 -0.04949747468305832 0.049497474683058325"/>
  <parent link="head"/>
  <child link="branch_30_cylinder_stub"/>
</joint>

<link name="branch_30_sphere_stub">
  <inertial>
   <mass value="1"/>
   <inertia ixx="0.00014439999999999999" ixy="0" ixz="0" iyy="0.00014439999999999999" iyz="0" izz="0.00014439999999999999"/>
  </inertial>
  <collision>
    <origin rpy="0 0 0" xyz="-0.095 0 0"/>
    <geometry>
      <sphere radius="0.019"/>
    </geometry>
  </collision>
  <visual>
    <origin rpy="0 0 0" xyz="-0.095 0 0"/>
    <geometry>
      <sphere radius="0.019"/>
    </geometry>
  </visual>
</link>

<joint name="joint_fixed_branch_30_cylinder_stub_branch_30_sphere_stub" type="fixed">
  <origin rpy="0 0 0" xyz="0 0 0"/>
  <parent link="branch_30_cylinder_stub"/>
  <child link="branch_30_sphere_stub"/>
</joint>

 <link name="branch_30_cylinder">
  <inertial>
    <mass value="1"/>
    <inertia ixx="0.0019749999999999998" ixy="0" ixz="0" iyy="0.0019749999999999998" iyz="0" izz="0.0001"/>
  </inertial>
  <visual>
    <origin rpy="0 -0.7853981633974483 1.57" xyz="-0.095 -0.06717514421272201 0.06717514421272201"/>
    <geometry>
      <cylinder length="0.15" radius="0.02"/>
    </geometry>
  </visual>
  <collision>
    <origin rpy="0 -0.7853981633974483 1.57" xyz="-0.095 -0.06717514421272201 0.06717514421272201"/>
    <geometry>
      <cylinder length="0.15" radius="0.02"/>
    </geometry>
  </collision>
 </link>

<joint name="joint_fixed_branch_30_sphere_stub_branch_30_cylinder" type="fixed">
  <origin rpy="0 0 0" xyz="0 0 0"/>
  <parent link="branch_30_sphere_stub"/>
  <child link="branch_30_cylinder"/>
</joint>

<link name="branch_30">
  <inertial>
   <mass value="1"/>
   <inertia ixx="0.00014439999999999999" ixy="0" ixz="0" iyy="0.00014439999999999999" iyz="0" izz="0.00014439999999999999"/>
  </inertial>
  <collision>
    <origin rpy="0 0 0" xyz="0 0 0"/>
    <geometry>
      <sphere radius="0.019"/>
    </geometry>
  </collision>
  <visual>
    <origin rpy="0 0 0" xyz="0 0 0"/>
    <geometry>
      <sphere radius="0.019"/>
    </geometry>
  </visual>
</link>

<joint name="joint_fixed_branch_30_cylinder_branch_30" type="fixed">
  <origin rpy="0 0 0" xyz="-0.095 -0.13435028842544403 0.13435028842544403"/>
  <parent link="branch_30_cylinder"/>
  <child link="branch_30"/>
</joint>

<!--############################################################################
branch_31
##############################################################################-->
 <link name="branch_31_cylinder">
  <inertial>
    <mass value="1"/>
    <inertia ixx="0.0019749999999999998" ixy="0" ixz="0" iyy="0.0019749999999999998" iyz="0" izz="0.0001"/>
  </inertial>
  <visual>
    <origin rpy="0 1.57 0" xyz="-0.095 0 0"/>
    <geometry>
      <cylinder length="0.15" radius="0.02"/>
    </geometry>
  </visual>
  <collision>
    <origin rpy="0 1.57 0" xyz="-0.095 0 0"/>
    <geometry>
      <cylinder length="0.15" radius="0.02"/>
    </geometry>
  </collision>
 </link>

<joint name="joint_revolute_branch_30_branch_31_cylinder_Z" type="revolute">
  <origin rpy="0 0 0" xyz="0 0 0"/>
  <parent link="branch_30"/>
  <child link="branch_31_cylinder"/>
  <axis xyz="0 0.7071067811865476 0.7071067811865475"/>
  <dynamics damping="0.01" friction="0.5"/>
  <limit lower="-1.5707963267948966" upper="1.5707963267948966" effort="0.01" velocity="100"/>
</joint>

<link name="branch_31">
  <inertial>
   <mass value="1"/>
   <inertia ixx="0.00014439999999999999" ixy="0" ixz="0" iyy="0.00014439999999999999" iyz="0" izz="0.00014439999999999999"/>
  </inertial>
  <collision>
    <origin rpy="0 0 0" xyz="0 0 0"/>
    <geometry>
      <sphere radius="0.019"/>
    </geometry>
  </collision>
  <visual>
    <origin rpy="0 0 0" xyz="0 0 0"/>
    <geometry>
      <sphere radius="0.019"/>
    </geometry>
  </visual>
</link>

<joint name="joint_fixed_branch_31_cylinder_branch_31" type="fixed">
  <origin rpy="0 0 0" xyz="-0.19 0 0"/>
  <parent link="branch_31_cylinder"/>
  <child link="branch_31"/>
</joint>

<!--############################################################################
branch_32
##############################################################################-->
 <link name="branch_32_cylinder">
  <inertial>
    <mass value="1"/>
    <inertia ixx="0.0019749999999999998" ixy="0" ixz="0" iyy="0.0019749999999999998" iyz="0" izz="0.0001"/>
  </inertial>
  <visual>
    <origin rpy="0 1.57 0" xyz="-0.095 0 0"/>
    <geometry>
      <cylinder length="0.15" radius="0.02"/>
    </geometry>
  </visual>
  <collision>
    <origin rpy="0 1.57 0" xyz="-0.095 0 0"/>
    <geometry>
      <cylinder length="0.15" radius="0.02"/>
    </geometry>
  </collision>
 </link>

<joint name="joint_revolute_branch_31_branch_32_cylinder_Z" type="revolute">
  <origin rpy="0 0 0" xyz="0 0 0"/>
  <parent link="branch_31"/>
  <child link="branch_32_cylinder"/>
  <axis xyz="0 0.7071067811865476 0.7071067811865475"/>
  <dynamics damping="0.01" friction="0.5"/>
  <limit lower="-1.5707963267948966" upper="1.5707963267948966" effort="0.01" velocity="100"/>
</joint>

<link name="branch_32">
  <inertial>
   <mass value="1"/>
   <inertia ixx="0.00014439999999999999" ixy="0" ixz="0" iyy="0.00014439999999999999" iyz="0" izz="0.00014439999999999999"/>
  </inertial>
  <collision>
    <origin rpy="0 0 0" xyz="0 0 0"/>
    <geometry>
      <sphere radius="0.019"/>
    </geometry>
  </collision>
  <visual>
    <origin rpy="0 0 0" xyz="0 0 0"/>
    <geometry>
      <sphere radius="0.019"/>
    </geometry>
  </visual>
</link>

<joint name="joint_fixed_branch_32_cylinder_branch_32" type="fixed">
  <origin rpy="0 0 0" xyz="-0.19 0 0"/>
  <parent link="branch_32_cylinder"/>
  <child link="branch_32"/>
</joint>

<!--############################################################################
branch_33
##############################################################################-->
 <link name="branch_33_cylinder">
  <inertial>
    <mass value="1"/>
    <inertia ixx="0.0019749999999999998" ixy="0" ixz="0" iyy="0.0019749999999999998" iyz="0" izz="0.0001"/>
  </inertial>
  <visual>
    <origin rpy="0 1.57 0" xyz="-0.095 0 0"/>
    <geometry>
      <cylinder length="0.15" radius="0.02"/>
    </geometry>
  </visual>
  <collision>
    <origin rpy="0 1.57 0" xyz="-0.095 0 0"/>
    <geometry>
      <cylinder length="0.15" radius="0.02"/>
    </geometry>
  </collision>
 </link>

<joint name="joint_revolute_branch_32_branch_33_cylinder_Z" type="revolute">
  <origin rpy="0 0 0" xyz="0 0 0"/>
  <parent link="branch_32"/>
  <child link="branch_33_cylinder"/>
  <axis xyz="0 0.7071067811865476 0.7071067811865475"/>
  <dynamics damping="0.01" friction="0.5"/>
  <limit lower="-1.5707963267948966" upper="1.5707963267948966" effort="0.01" velocity="100"/>
</joint>

<link name="branch_33">
  <inertial>
   <mass value="1"/>
   <inertia ixx="0.00014439999999999999" ixy="0" ixz="0" iyy="0.00014439999999999999" iyz="0" izz="0.00014439999999999999"/>
  </inertial>
  <collision>
    <origin rpy="0 0 0" xyz="0 0 0"/>
    <geometry>
      <sphere radius="0.019"/>
    </geometry>
  </collision>
  <visual>
    <origin rpy="0 0 0" xyz="0 0 0"/>
    <geometry>
      <sphere radius="0.019"/>
    </geometry>
  </visual>
</link>

<joint name="joint_fixed_branch_33_cylinder_branch_33" type="fixed">
  <origin rpy="0 0 0" xyz="-0.19 0 0"/>
  <parent link="branch_33_cylinder"/>
  <child link="branch_33"/>
</joint>

<!--############################################################################
branch_34
##############################################################################-->
 <link name="branch_34_cylinder">
  <inertial>
    <mass value="1"/>
    <inertia ixx="0.0019749999999999998" ixy="0" ixz="0" iyy="0.0019749999999999998" iyz="0" izz="0.0001"/>
  </inertial>
  <visual>
    <origin rpy="0 1.57 0" xyz="-0.095 0 0"/>
    <geometry>
      <cylinder length="0.15" radius="0.02"/>
    </geometry>
  </visual>
  <collision>
    <origin rpy="0 1.57 0" xyz="-0.095 0 0"/>
    <geometry>
      <cylinder length="0.15" radius="0.02"/>
    </geometry>
  </collision>
 </link>

<joint name="joint_revolute_branch_33_branch_34_cylinder_Z" type="revolute">
  <origin rpy="0 0 0" xyz="0 0 0"/>
  <parent link="branch_33"/>
  <child link="branch_34_cylinder"/>
  <axis xyz="0 0.7071067811865476 0.7071067811865475"/>
  <dynamics damping="0.01" friction="0.5"/>
  <limit lower="-1.5707963267948966" upper="1.5707963267948966" effort="0.01" velocity="100"/>
</joint>

<link name="branch_34">
  <inertial>
   <mass value="1"/>
   <inertia ixx="0.00014439999999999999" ixy="0" ixz="0" iyy="0.00014439999999999999" iyz="0" izz="0.00014439999999999999"/>
  </inertial>
  <collision>
    <origin rpy="0 0 0" xyz="0 0 0"/>
    <geometry>
      <sphere radius="0.019"/>
    </geometry>
  </collision>
  <visual>
    <origin rpy="0 0 0" xyz="0 0 0"/>
    <geometry>
      <sphere radius="0.019"/>
    </geometry>
  </visual>
</link>

<joint name="joint_fixed_branch_34_cylinder_branch_34" type="fixed">
  <origin rpy="0 0 0" xyz="-0.19 0 0"/>
  <parent link="branch_34_cylinder"/>
  <child link="branch_34"/>
</joint>

<!--############################################################################
branch_35
##############################################################################-->
 <link name="branch_35_cylinder">
  <inertial>
    <mass value="1"/>
    <inertia ixx="0.0019749999999999998" ixy="0" ixz="0" iyy="0.0019749999999999998" iyz="0" izz="0.0001"/>
  </inertial>
  <visual>
    <origin rpy="0 1.57 0" xyz="-0.095 0 0"/>
    <geometry>
      <cylinder length="0.15" radius="0.02"/>
    </geometry>
  </visual>
  <collision>
    <origin rpy="0 1.57 0" xyz="-0.095 0 0"/>
    <geometry>
      <cylinder length="0.15" radius="0.02"/>
    </geometry>
  </collision>
 </link>

<joint name="joint_revolute_branch_34_branch_35_cylinder_Z" type="revolute">
  <origin rpy="0 0 0" xyz="0 0 0"/>
  <parent link="branch_34"/>
  <child link="branch_35_cylinder"/>
  <axis xyz="0 0.7071067811865476 0.7071067811865475"/>
  <dynamics damping="0.01" friction="0.5"/>
  <limit lower="-1.5707963267948966" upper="1.5707963267948966" effort="0.01" velocity="100"/>
</joint>

<link name="branch_35">
  <inertial>
   <mass value="1"/>
   <inertia ixx="0.00014439999999999999" ixy="0" ixz="0" iyy="0.00014439999999999999" iyz="0" izz="0.00014439999999999999"/>
  </inertial>
  <collision>
    <origin rpy="0 0 0" xyz="0 0 0"/>
    <geometry>
      <sphere radius="0.019"/>
    </geometry>
  </collision>
  <visual>
    <origin rpy="0 0 0" xyz="0 0 0"/>
    <geometry>
      <sphere radius="0.019"/>
    </geometry>
  </visual>
</link>

<joint name="joint_fixed_branch_35_cylinder_branch_35" type="fixed">
  <origin rpy="0 0 0" xyz="-0.19 0 0"/>
  <parent link="branch_35_cylinder"/>
  <child link="branch_35"/>
</joint>

<!--############################################################################
branch_36
##############################################################################-->
 <link name="branch_36_cylinder">
  <inertial>
    <mass value="1"/>
    <inertia ixx="0.0019749999999999998" ixy="0" ixz="0" iyy="0.0019749999999999998" iyz="0" izz="0.0001"/>
  </inertial>
  <visual>
    <origin rpy="0 1.57 0" xyz="-0.095 0 0"/>
    <geometry>
      <cylinder length="0.15" radius="0.02"/>
    </geometry>
  </visual>
  <collision>
    <origin rpy="0 1.57 0" xyz="-0.095 0 0"/>
    <geometry>
      <cylinder length="0.15" radius="0.02"/>
    </geometry>
  </collision>
 </link>

<joint name="joint_revolute_branch_35_branch_36_cylinder_Z" type="revolute">
  <origin rpy="0 0 0" xyz="0 0 0"/>
  <parent link="branch_35"/>
  <child link="branch_36_cylinder"/>
  <axis xyz="0 0.7071067811865476 0.7071067811865475"/>
  <dynamics damping="0.01" friction="0.5"/>
  <limit lower="-1.5707963267948966" upper="1.5707963267948966" effort="0.01" velocity="100"/>
</joint>

<link name="branch_36">
  <inertial>
   <mass value="1"/>
   <inertia ixx="0.00014439999999999999" ixy="0" ixz="0" iyy="0.00014439999999999999" iyz="0" izz="0.00014439999999999999"/>
  </inertial>
  <collision>
    <origin rpy="0 0 0" xyz="0 0 0"/>
    <geometry>
      <sphere radius="0.019"/>
    </geometry>
  </collision>
  <visual>
    <origin rpy="0 0 0" xyz="0 0 0"/>
    <geometry>
      <sphere radius="0.019"/>
    </geometry>
  </visual>
</link>

<joint name="joint_fixed_branch_36_cylinder_branch_36" type="fixed">
  <origin rpy="0 0 0" xyz="-0.19 0 0"/>
  <parent link="branch_36_cylinder"/>
  <child link="branch_36"/>
</joint>

<!--############################################################################
branch_40
##############################################################################-->
 <link name="branch_40_cylinder_stub">
  <inertial>
    <mass value="1"/>
    <inertia ixx="0.0005687499999999999" ixy="0" ixz="0" iyy="0.0005687499999999999" iyz="0" izz="0.0001"/>
  </inertial>
  <visual>
    <origin rpy="0 1.57 0" xyz="-0.0375 0 0"/>
    <geometry>
      <cylinder length="0.075" radius="0.02"/>
    </geometry>
  </visual>
  <collision>
    <origin rpy="0 1.57 0" xyz="-0.0375 0 0"/>
    <geometry>
      <cylinder length="0.075" radius="0.02"/>
    </geometry>
  </collision>
 </link>

<joint name="joint_fixed_head_branch_40_cylinder_stub" type="fixed">
  <origin rpy="0 0 0" xyz="-0.2 -0.06999999999999999 8.572527594031472e-18"/>
  <parent link="head"/>
  <child link="branch_40_cylinder_stub"/>
</joint>

<link name="branch_40_sphere_stub">
  <inertial>
   <mass value="1"/>
   <inertia ixx="0.00014439999999999999" ixy="0" ixz="0" iyy="0.00014439999999999999" iyz="0" izz="0.00014439999999999999"/>
  </inertial>
  <collision>
    <origin rpy="0 0 0" xyz="-0.095 0 0"/>
    <geometry>
      <sphere radius="0.019"/>
    </geometry>
  </collision>
  <visual>
    <origin rpy="0 0 0" xyz="-0.095 0 0"/>
    <geometry>
      <sphere radius="0.019"/>
    </geometry>
  </visual>
</link>

<joint name="joint_fixed_branch_40_cylinder_stub_branch_40_sphere_stub" type="fixed">
  <origin rpy="0 0 0" xyz="0 0 0"/>
  <parent link="branch_40_cylinder_stub"/>
  <child link="branch_40_sphere_stub"/>
</joint>

 <link name="branch_40_cylinder">
  <inertial>
    <mass value="1"/>
    <inertia ixx="0.0019749999999999998" ixy="0" ixz="0" iyy="0.0019749999999999998" iyz="0" izz="0.0001"/>
  </inertial>
  <visual>
    <origin rpy="0 -1.5707963267948966 1.57" xyz="-0.095 -0.095 1.1634144591899856e-17"/>
    <geometry>
      <cylinder length="0.15" radius="0.02"/>
    </geometry>
  </visual>
  <collision>
    <origin rpy="0 -1.5707963267948966 1.57" xyz="-0.095 -0.095 1.1634144591899856e-17"/>
    <geometry>
      <cylinder length="0.15" radius="0.02"/>
    </geometry>
  </collision>
 </link>

<joint name="joint_fixed_branch_40_sphere_stub_branch_40_cylinder" type="fixed">
  <origin rpy="0 0 0" xyz="0 0 0"/>
  <parent link="branch_40_sphere_stub"/>
  <child link="branch_40_cylinder"/>
</joint>

<link name="branch_40">
  <inertial>
   <mass value="1"/>
   <inertia ixx="0.00014439999999999999" ixy="0" ixz="0" iyy="0.00014439999999999999" iyz="0" izz="0.00014439999999999999"/>
  </inertial>
  <collision>
    <origin rpy="0 0 0" xyz="0 0 0"/>
    <geometry>
      <sphere radius="0.019"/>
    </geometry>
  </collision>
  <visual>
    <origin rpy="0 0 0" xyz="0 0 0"/>
    <geometry>
      <sphere radius="0.019"/>
    </geometry>
  </visual>
</link>

<joint name="joint_fixed_branch_40_cylinder_branch_40" type="fixed">
  <origin rpy="0 0 0" xyz="-0.095 -0.19 2.3268289183799712e-17"/>
  <parent link="branch_40_cylinder"/>
  <child link="branch_40"/>
</joint>

<!--############################################################################
branch_41
##############################################################################-->
 <link name="branch_41_cylinder">
  <inertial>
    <mass value="1"/>
    <inertia ixx="0.0019749999999999998" ixy="0" ixz="0" iyy="0.0019749999999999998" iyz="0" izz="0.0001"/>
  </inertial>
  <visual>
    <origin rpy="0 1.57 0" xyz="-0.095 0 0"/>
    <geometry>
      <cylinder length="0.15" radius="0.02"/>
    </geometry>
  </visual>
  <collision>
    <origin rpy="0 1.57 0" xyz="-0.095 0 0"/>
    <geometry>
      <cylinder length="0.15" radius="0.02"/>
    </geometry>
  </collision>
 </link>

<joint name="joint_revolute_branch_40_branch_41_cylinder_Z" type="revolute">
  <origin rpy="0 0 0" xyz="0 0 0"/>
  <parent link="branch_40"/>
  <child link="branch_41_cylinder"/>
  <axis xyz="0 1.2246467991473532e-16 1.0"/>
  <dynamics damping="0.01" friction="0.5"/>
  <limit lower="-1.5707963267948966" upper="1.5707963267948966" effort="0.01" velocity="100"/>
</joint>

<link name="branch_41">
  <inertial>
   <mass value="1"/>
   <inertia ixx="0.00014439999999999999" ixy="0" ixz="0" iyy="0.00014439999999999999" iyz="0" izz="0.00014439999999999999"/>
  </inertial>
  <collision>
    <origin rpy="0 0 0" xyz="0 0 0"/>
    <geometry>
      <sphere radius="0.019"/>
    </geometry>
  </collision>
  <visual>
    <origin rpy="0 0 0" xyz="0 0 0"/>
    <geometry>
      <sphere radius="0.019"/>
    </geometry>
  </visual>
</link>

<joint name="joint_fixed_branch_41_cylinder_branch_41" type="fixed">
  <origin rpy="0 0 0" xyz="-0.19 0 0"/>
  <parent link="branch_41_cylinder"/>
  <child link="branch_41"/>
</joint>

<!--############################################################################
branch_42
##############################################################################-->
 <link name="branch_42_cylinder">
  <inertial>
    <mass value="1"/>
    <inertia ixx="0.0019749999999999998" ixy="0" ixz="0" iyy="0.0019749999999999998" iyz="0" izz="0.0001"/>
  </inertial>
  <visual>
    <origin rpy="0 1.57 0" xyz="-0.095 0 0"/>
    <geometry>
      <cylinder length="0.15" radius="0.02"/>
    </geometry>
  </visual>
  <collision>
    <origin rpy="0 1.57 0" xyz="-0.095 0 0"/>
    <geometry>
      <cylinder length="0.15" radius="0.02"/>
    </geometry>
  </collision>
 </link>

<joint name="joint_revolute_branch_41_branch_42_cylinder_Z" type="revolute">
  <origin rpy="0 0 0" xyz="0 0 0"/>
  <parent link="branch_41"/>
  <child link="branch_42_cylinder"/>
  <axis xyz="0 1.2246467991473532e-16 1.0"/>
  <dynamics damping="0.01" friction="0.5"/>
  <limit lower="-1.5707963267948966" upper="1.5707963267948966" effort="0.01" velocity="100"/>
</joint>

<link name="branch_42">
  <inertial>
   <mass value="1"/>
   <inertia ixx="0.00014439999999999999" ixy="0" ixz="0" iyy="0.00014439999999999999" iyz="0" izz="0.00014439999999999999"/>
  </inertial>
  <collision>
    <origin rpy="0 0 0" xyz="0 0 0"/>
    <geometry>
      <sphere radius="0.019"/>
    </geometry>
  </collision>
  <visual>
    <origin rpy="0 0 0" xyz="0 0 0"/>
    <geometry>
      <sphere radius="0.019"/>
    </geometry>
  </visual>
</link>

<joint name="joint_fixed_branch_42_cylinder_branch_42" type="fixed">
  <origin rpy="0 0 0" xyz="-0.19 0 0"/>
  <parent link="branch_42_cylinder"/>
  <child link="branch_42"/>
</joint>

<!--############################################################################
branch_43
##############################################################################-->
 <link name="branch_43_cylinder">
  <inertial>
    <mass value="1"/>
    <inertia ixx="0.0019749999999999998" ixy="0" ixz="0" iyy="0.0019749999999999998" iyz="0" izz="0.0001"/>
  </inertial>
  <visual>
    <origin rpy="0 1.57 0" xyz="-0.095 0 0"/>
    <geometry>
      <cylinder length="0.15" radius="0.02"/>
    </geometry>
  </visual>
  <collision>
    <origin rpy="0 1.57 0" xyz="-0.095 0 0"/>
    <geometry>
      <cylinder length="0.15" radius="0.02"/>
    </geometry>
  </collision>
 </link>

<joint name="joint_revolute_branch_42_branch_43_cylinder_Z" type="revolute">
  <origin rpy="0 0 0" xyz="0 0 0"/>
  <parent link="branch_42"/>
  <child link="branch_43_cylinder"/>
  <axis xyz="0 1.2246467991473532e-16 1.0"/>
  <dynamics damping="0.01" friction="0.5"/>
  <limit lower="-1.5707963267948966" upper="1.5707963267948966" effort="0.01" velocity="100"/>
</joint>

<link name="branch_43">
  <inertial>
   <mass value="1"/>
   <inertia ixx="0.00014439999999999999" ixy="0" ixz="0" iyy="0.00014439999999999999" iyz="0" izz="0.00014439999999999999"/>
  </inertial>
  <collision>
    <origin rpy="0 0 0" xyz="0 0 0"/>
    <geometry>
      <sphere radius="0.019"/>
    </geometry>
  </collision>
  <visual>
    <origin rpy="0 0 0" xyz="0 0 0"/>
    <geometry>
      <sphere radius="0.019"/>
    </geometry>
  </visual>
</link>

<joint name="joint_fixed_branch_43_cylinder_branch_43" type="fixed">
  <origin rpy="0 0 0" xyz="-0.19 0 0"/>
  <parent link="branch_43_cylinder"/>
  <child link="branch_43"/>
</joint>

<!--############################################################################
branch_44
##############################################################################-->
 <link name="branch_44_cylinder">
  <inertial>
    <mass value="1"/>
    <inertia ixx="0.0019749999999999998" ixy="0" ixz="0" iyy="0.0019749999999999998" iyz="0" izz="0.0001"/>
  </inertial>
  <visual>
    <origin rpy="0 1.57 0" xyz="-0.095 0 0"/>
    <geometry>
      <cylinder length="0.15" radius="0.02"/>
    </geometry>
  </visual>
  <collision>
    <origin rpy="0 1.57 0" xyz="-0.095 0 0"/>
    <geometry>
      <cylinder length="0.15" radius="0.02"/>
    </geometry>
  </collision>
 </link>

<joint name="joint_revolute_branch_43_branch_44_cylinder_Z" type="revolute">
  <origin rpy="0 0 0" xyz="0 0 0"/>
  <parent link="branch_43"/>
  <child link="branch_44_cylinder"/>
  <axis xyz="0 1.2246467991473532e-16 1.0"/>
  <dynamics damping="0.01" friction="0.5"/>
  <limit lower="-1.5707963267948966" upper="1.5707963267948966" effort="0.01" velocity="100"/>
</joint>

<link name="branch_44">
  <inertial>
   <mass value="1"/>
   <inertia ixx="0.00014439999999999999" ixy="0" ixz="0" iyy="0.00014439999999999999" iyz="0" izz="0.00014439999999999999"/>
  </inertial>
  <collision>
    <origin rpy="0 0 0" xyz="0 0 0"/>
    <geometry>
      <sphere radius="0.019"/>
    </geometry>
  </collision>
  <visual>
    <origin rpy="0 0 0" xyz="0 0 0"/>
    <geometry>
      <sphere radius="0.019"/>
    </geometry>
  </visual>
</link>

<joint name="joint_fixed_branch_44_cylinder_branch_44" type="fixed">
  <origin rpy="0 0 0" xyz="-0.19 0 0"/>
  <parent link="branch_44_cylinder"/>
  <child link="branch_44"/>
</joint>

<!--############################################################################
branch_45
##############################################################################-->
 <link name="branch_45_cylinder">
  <inertial>
    <mass value="1"/>
    <inertia ixx="0.0019749999999999998" ixy="0" ixz="0" iyy="0.0019749999999999998" iyz="0" izz="0.0001"/>
  </inertial>
  <visual>
    <origin rpy="0 1.57 0" xyz="-0.095 0 0"/>
    <geometry>
      <cylinder length="0.15" radius="0.02"/>
    </geometry>
  </visual>
  <collision>
    <origin rpy="0 1.57 0" xyz="-0.095 0 0"/>
    <geometry>
      <cylinder length="0.15" radius="0.02"/>
    </geometry>
  </collision>
 </link>

<joint name="joint_revolute_branch_44_branch_45_cylinder_Z" type="revolute">
  <origin rpy="0 0 0" xyz="0 0 0"/>
  <parent link="branch_44"/>
  <child link="branch_45_cylinder"/>
  <axis xyz="0 1.2246467991473532e-16 1.0"/>
  <dynamics damping="0.01" friction="0.5"/>
  <limit lower="-1.5707963267948966" upper="1.5707963267948966" effort="0.01" velocity="100"/>
</joint>

<link name="branch_45">
  <inertial>
   <mass value="1"/>
   <inertia ixx="0.00014439999999999999" ixy="0" ixz="0" iyy="0.00014439999999999999" iyz="0" izz="0.00014439999999999999"/>
  </inertial>
  <collision>
    <origin rpy="0 0 0" xyz="0 0 0"/>
    <geometry>
      <sphere radius="0.019"/>
    </geometry>
  </collision>
  <visual>
    <origin rpy="0 0 0" xyz="0 0 0"/>
    <geometry>
      <sphere radius="0.019"/>
    </geometry>
  </visual>
</link>

<joint name="joint_fixed_branch_45_cylinder_branch_45" type="fixed">
  <origin rpy="0 0 0" xyz="-0.19 0 0"/>
  <parent link="branch_45_cylinder"/>
  <child link="branch_45"/>
</joint>

<!--############################################################################
branch_46
##############################################################################-->
 <link name="branch_46_cylinder">
  <inertial>
    <mass value="1"/>
    <inertia ixx="0.0019749999999999998" ixy="0" ixz="0" iyy="0.0019749999999999998" iyz="0" izz="0.0001"/>
  </inertial>
  <visual>
    <origin rpy="0 1.57 0" xyz="-0.095 0 0"/>
    <geometry>
      <cylinder length="0.15" radius="0.02"/>
    </geometry>
  </visual>
  <collision>
    <origin rpy="0 1.57 0" xyz="-0.095 0 0"/>
    <geometry>
      <cylinder length="0.15" radius="0.02"/>
    </geometry>
  </collision>
 </link>

<joint name="joint_revolute_branch_45_branch_46_cylinder_Z" type="revolute">
  <origin rpy="0 0 0" xyz="0 0 0"/>
  <parent link="branch_45"/>
  <child link="branch_46_cylinder"/>
  <axis xyz="0 1.2246467991473532e-16 1.0"/>
  <dynamics damping="0.01" friction="0.5"/>
  <limit lower="-1.5707963267948966" upper="1.5707963267948966" effort="0.01" velocity="100"/>
</joint>

<link name="branch_46">
  <inertial>
   <mass value="1"/>
   <inertia ixx="0.00014439999999999999" ixy="0" ixz="0" iyy="0.00014439999999999999" iyz="0" izz="0.00014439999999999999"/>
  </inertial>
  <collision>
    <origin rpy="0 0 0" xyz="0 0 0"/>
    <geometry>
      <sphere radius="0.019"/>
    </geometry>
  </collision>
  <visual>
    <origin rpy="0 0 0" xyz="0 0 0"/>
    <geometry>
      <sphere radius="0.019"/>
    </geometry>
  </visual>
</link>

<joint name="joint_fixed_branch_46_cylinder_branch_46" type="fixed">
  <origin rpy="0 0 0" xyz="-0.19 0 0"/>
  <parent link="branch_46_cylinder"/>
  <child link="branch_46"/>
</joint>

<!--############################################################################
branch_50
##############################################################################-->
 <link name="branch_50_cylinder_stub">
  <inertial>
    <mass value="1"/>
    <inertia ixx="0.0005687499999999999" ixy="0" ixz="0" iyy="0.0005687499999999999" iyz="0" izz="0.0001"/>
  </inertial>
  <visual>
    <origin rpy="0 1.57 0" xyz="-0.0375 0 0"/>
    <geometry>
      <cylinder length="0.075" radius="0.02"/>
    </geometry>
  </visual>
  <collision>
    <origin rpy="0 1.57 0" xyz="-0.0375 0 0"/>
    <geometry>
      <cylinder length="0.075" radius="0.02"/>
    </geometry>
  </collision>
 </link>

<joint name="joint_fixed_head_branch_50_cylinder_stub" type="fixed">
  <origin rpy="0 0 0" xyz="-0.2 -0.04949747468305833 -0.04949747468305832"/>
  <parent link="head"/>
  <child link="branch_50_cylinder_stub"/>
</joint>

<link name="branch_50_sphere_stub">
  <inertial>
   <mass value="1"/>
   <inertia ixx="0.00014439999999999999" ixy="0" ixz="0" iyy="0.00014439999999999999" iyz="0" izz="0.00014439999999999999"/>
  </inertial>
  <collision>
    <origin rpy="0 0 0" xyz="-0.095 0 0"/>
    <geometry>
      <sphere radius="0.019"/>
    </geometry>
  </collision>
  <visual>
    <origin rpy="0 0 0" xyz="-0.095 0 0"/>
    <geometry>
      <sphere radius="0.019"/>
    </geometry>
  </visual>
</link>

<joint name="joint_fixed_branch_50_cylinder_stub_branch_50_sphere_stub" type="fixed">
  <origin rpy="0 0 0" xyz="0 0 0"/>
  <parent link="branch_50_cylinder_stub"/>
  <child link="branch_50_sphere_stub"/>
</joint>

 <link name="branch_50_cylinder">
  <inertial>
    <mass value="1"/>
    <inertia ixx="0.0019749999999999998" ixy="0" ixz="0" iyy="0.0019749999999999998" iyz="0" izz="0.0001"/>
  </inertial>
  <visual>
    <origin rpy="0 -2.356194490192345 1.57" xyz="-0.095 -0.06717514421272203 -0.06717514421272201"/>
    <geometry>
      <cylinder length="0.15" radius="0.02"/>
    </geometry>
  </visual>
  <collision>
    <origin rpy="0 -2.356194490192345 1.57" xyz="-0.095 -0.06717514421272203 -0.06717514421272201"/>
    <geometry>
      <cylinder length="0.15" radius="0.02"/>
    </geometry>
  </collision>
 </link>

<joint name="joint_fixed_branch_50_sphere_stub_branch_50_cylinder" type="fixed">
  <origin rpy="0 0 0" xyz="0 0 0"/>
  <parent link="branch_50_sphere_stub"/>
  <child link="branch_50_cylinder"/>
</joint>

<link name="branch_50">
  <inertial>
   <mass value="1"/>
   <inertia ixx="0.00014439999999999999" ixy="0" ixz="0" iyy="0.00014439999999999999" iyz="0" izz="0.00014439999999999999"/>
  </inertial>
  <collision>
    <origin rpy="0 0 0" xyz="0 0 0"/>
    <geometry>
      <sphere radius="0.019"/>
    </geometry>
  </collision>
  <visual>
    <origin rpy="0 0 0" xyz="0 0 0"/>
    <geometry>
      <sphere radius="0.019"/>
    </geometry>
  </visual>
</link>

<joint name="joint_fixed_branch_50_cylinder_branch_50" type="fixed">
  <origin rpy="0 0 0" xyz="-0.095 -0.13435028842544405 -0.13435028842544403"/>
  <parent link="branch_50_cylinder"/>
  <child link="branch_50"/>
</joint>

<!--############################################################################
branch_51
##############################################################################-->
 <link name="branch_51_cylinder">
  <inertial>
    <mass value="1"/>
    <inertia ixx="0.0019749999999999998" ixy="0" ixz="0" iyy="0.0019749999999999998" iyz="0" izz="0.0001"/>
  </inertial>
  <visual>
    <origin rpy="0 1.57 0" xyz="-0.095 0 0"/>
    <geometry>
      <cylinder length="0.15" radius="0.02"/>
    </geometry>
  </visual>
  <collision>
    <origin rpy="0 1.57 0" xyz="-0.095 0 0"/>
    <geometry>
      <cylinder length="0.15" radius="0.02"/>
    </geometry>
  </collision>
 </link>

<joint name="joint_revolute_branch_50_branch_51_cylinder_Z" type="revolute">
  <origin rpy="0 0 0" xyz="0 0 0"/>
  <parent link="branch_50"/>
  <child link="branch_51_cylinder"/>
  <axis xyz="0 -0.7071067811865475 0.7071067811865477"/>
  <dynamics damping="0.01" friction="0.5"/>
  <limit lower="-1.5707963267948966" upper="1.5707963267948966" effort="0.01" velocity="100"/>
</joint>

<link name="branch_51">
  <inertial>
   <mass value="1"/>
   <inertia ixx="0.00014439999999999999" ixy="0" ixz="0" iyy="0.00014439999999999999" iyz="0" izz="0.00014439999999999999"/>
  </inertial>
  <collision>
    <origin rpy="0 0 0" xyz="0 0 0"/>
    <geometry>
      <sphere radius="0.019"/>
    </geometry>
  </collision>
  <visual>
    <origin rpy="0 0 0" xyz="0 0 0"/>
    <geometry>
      <sphere radius="0.019"/>
    </geometry>
  </visual>
</link>

<joint name="joint_fixed_branch_51_cylinder_branch_51" type="fixed">
  <origin rpy="0 0 0" xyz="-0.19 0 0"/>
  <parent link="branch_51_cylinder"/>
  <child link="branch_51"/>
</joint>

<!--############################################################################
branch_52
##############################################################################-->
 <link name="branch_52_cylinder">
  <inertial>
    <mass value="1"/>
    <inertia ixx="0.0019749999999999998" ixy="0" ixz="0" iyy="0.0019749999999999998" iyz="0" izz="0.0001"/>
  </inertial>
  <visual>
    <origin rpy="0 1.57 0" xyz="-0.095 0 0"/>
    <geometry>
      <cylinder length="0.15" radius="0.02"/>
    </geometry>
  </visual>
  <collision>
    <origin rpy="0 1.57 0" xyz="-0.095 0 0"/>
    <geometry>
      <cylinder length="0.15" radius="0.02"/>
    </geometry>
  </collision>
 </link>

<joint name="joint_revolute_branch_51_branch_52_cylinder_Z" type="revolute">
  <origin rpy="0 0 0" xyz="0 0 0"/>
  <parent link="branch_51"/>
  <child link="branch_52_cylinder"/>
  <axis xyz="0 -0.7071067811865475 0.7071067811865477"/>
  <dynamics damping="0.01" friction="0.5"/>
  <limit lower="-1.5707963267948966" upper="1.5707963267948966" effort="0.01" velocity="100"/>
</joint>

<link name="branch_52">
  <inertial>
   <mass value="1"/>
   <inertia ixx="0.00014439999999999999" ixy="0" ixz="0" iyy="0.00014439999999999999" iyz="0" izz="0.00014439999999999999"/>
  </inertial>
  <collision>
    <origin rpy="0 0 0" xyz="0 0 0"/>
    <geometry>
      <sphere radius="0.019"/>
    </geometry>
  </collision>
  <visual>
    <origin rpy="0 0 0" xyz="0 0 0"/>
    <geometry>
      <sphere radius="0.019"/>
    </geometry>
  </visual>
</link>

<joint name="joint_fixed_branch_52_cylinder_branch_52" type="fixed">
  <origin rpy="0 0 0" xyz="-0.19 0 0"/>
  <parent link="branch_52_cylinder"/>
  <child link="branch_52"/>
</joint>

<!--############################################################################
branch_53
##############################################################################-->
 <link name="branch_53_cylinder">
  <inertial>
    <mass value="1"/>
    <inertia ixx="0.0019749999999999998" ixy="0" ixz="0" iyy="0.0019749999999999998" iyz="0" izz="0.0001"/>
  </inertial>
  <visual>
    <origin rpy="0 1.57 0" xyz="-0.095 0 0"/>
    <geometry>
      <cylinder length="0.15" radius="0.02"/>
    </geometry>
  </visual>
  <collision>
    <origin rpy="0 1.57 0" xyz="-0.095 0 0"/>
    <geometry>
      <cylinder length="0.15" radius="0.02"/>
    </geometry>
  </collision>
 </link>

<joint name="joint_revolute_branch_52_branch_53_cylinder_Z" type="revolute">
  <origin rpy="0 0 0" xyz="0 0 0"/>
  <parent link="branch_52"/>
  <child link="branch_53_cylinder"/>
  <axis xyz="0 -0.7071067811865475 0.7071067811865477"/>
  <dynamics damping="0.01" friction="0.5"/>
  <limit lower="-1.5707963267948966" upper="1.5707963267948966" effort="0.01" velocity="100"/>
</joint>

<link name="branch_53">
  <inertial>
   <mass value="1"/>
   <inertia ixx="0.00014439999999999999" ixy="0" ixz="0" iyy="0.00014439999999999999" iyz="0" izz="0.00014439999999999999"/>
  </inertial>
  <collision>
    <origin rpy="0 0 0" xyz="0 0 0"/>
    <geometry>
      <sphere radius="0.019"/>
    </geometry>
  </collision>
  <visual>
    <origin rpy="0 0 0" xyz="0 0 0"/>
    <geometry>
      <sphere radius="0.019"/>
    </geometry>
  </visual>
</link>

<joint name="joint_fixed_branch_53_cylinder_branch_53" type="fixed">
  <origin rpy="0 0 0" xyz="-0.19 0 0"/>
  <parent link="branch_53_cylinder"/>
  <child link="branch_53"/>
</joint>

<!--############################################################################
branch_54
##############################################################################-->
 <link name="branch_54_cylinder">
  <inertial>
    <mass value="1"/>
    <inertia ixx="0.0019749999999999998" ixy="0" ixz="0" iyy="0.0019749999999999998" iyz="0" izz="0.0001"/>
  </inertial>
  <visual>
    <origin rpy="0 1.57 0" xyz="-0.095 0 0"/>
    <geometry>
      <cylinder length="0.15" radius="0.02"/>
    </geometry>
  </visual>
  <collision>
    <origin rpy="0 1.57 0" xyz="-0.095 0 0"/>
    <geometry>
      <cylinder length="0.15" radius="0.02"/>
    </geometry>
  </collision>
 </link>

<joint name="joint_revolute_branch_53_branch_54_cylinder_Z" type="revolute">
  <origin rpy="0 0 0" xyz="0 0 0"/>
  <parent link="branch_53"/>
  <child link="branch_54_cylinder"/>
  <axis xyz="0 -0.7071067811865475 0.7071067811865477"/>
  <dynamics damping="0.01" friction="0.5"/>
  <limit lower="-1.5707963267948966" upper="1.5707963267948966" effort="0.01" velocity="100"/>
</joint>

<link name="branch_54">
  <inertial>
   <mass value="1"/>
   <inertia ixx="0.00014439999999999999" ixy="0" ixz="0" iyy="0.00014439999999999999" iyz="0" izz="0.00014439999999999999"/>
  </inertial>
  <collision>
    <origin rpy="0 0 0" xyz="0 0 0"/>
    <geometry>
      <sphere radius="0.019"/>
    </geometry>
  </collision>
  <visual>
    <origin rpy="0 0 0" xyz="0 0 0"/>
    <geometry>
      <sphere radius="0.019"/>
    </geometry>
  </visual>
</link>

<joint name="joint_fixed_branch_54_cylinder_branch_54" type="fixed">
  <origin rpy="0 0 0" xyz="-0.19 0 0"/>
  <parent link="branch_54_cylinder"/>
  <child link="branch_54"/>
</joint>

<!--############################################################################
branch_55
##############################################################################-->
 <link name="branch_55_cylinder">
  <inertial>
    <mass value="1"/>
    <inertia ixx="0.0019749999999999998" ixy="0" ixz="0" iyy="0.0019749999999999998" iyz="0" izz="0.0001"/>
  </inertial>
  <visual>
    <origin rpy="0 1.57 0" xyz="-0.095 0 0"/>
    <geometry>
      <cylinder length="0.15" radius="0.02"/>
    </geometry>
  </visual>
  <collision>
    <origin rpy="0 1.57 0" xyz="-0.095 0 0"/>
    <geometry>
      <cylinder length="0.15" radius="0.02"/>
    </geometry>
  </collision>
 </link>

<joint name="joint_revolute_branch_54_branch_55_cylinder_Z" type="revolute">
  <origin rpy="0 0 0" xyz="0 0 0"/>
  <parent link="branch_54"/>
  <child link="branch_55_cylinder"/>
  <axis xyz="0 -0.7071067811865475 0.7071067811865477"/>
  <dynamics damping="0.01" friction="0.5"/>
  <limit lower="-1.5707963267948966" upper="1.5707963267948966" effort="0.01" velocity="100"/>
</joint>

<link name="branch_55">
  <inertial>
   <mass value="1"/>
   <inertia ixx="0.00014439999999999999" ixy="0" ixz="0" iyy="0.00014439999999999999" iyz="0" izz="0.00014439999999999999"/>
  </inertial>
  <collision>
    <origin rpy="0 0 0" xyz="0 0 0"/>
    <geometry>
      <sphere radius="0.019"/>
    </geometry>
  </collision>
  <visual>
    <origin rpy="0 0 0" xyz="0 0 0"/>
    <geometry>
      <sphere radius="0.019"/>
    </geometry>
  </visual>
</link>

<joint name="joint_fixed_branch_55_cylinder_branch_55" type="fixed">
  <origin rpy="0 0 0" xyz="-0.19 0 0"/>
  <parent link="branch_55_cylinder"/>
  <child link="branch_55"/>
</joint>

<!--############################################################################
branch_56
##############################################################################-->
 <link name="branch_56_cylinder">
  <inertial>
    <mass value="1"/>
    <inertia ixx="0.0019749999999999998" ixy="0" ixz="0" iyy="0.0019749999999999998" iyz="0" izz="0.0001"/>
  </inertial>
  <visual>
    <origin rpy="0 1.57 0" xyz="-0.095 0 0"/>
    <geometry>
      <cylinder length="0.15" radius="0.02"/>
    </geometry>
  </visual>
  <collision>
    <origin rpy="0 1.57 0" xyz="-0.095 0 0"/>
    <geometry>
      <cylinder length="0.15" radius="0.02"/>
    </geometry>
  </collision>
 </link>

<joint name="joint_revolute_branch_55_branch_56_cylinder_Z" type="revolute">
  <origin rpy="0 0 0" xyz="0 0 0"/>
  <parent link="branch_55"/>
  <child link="branch_56_cylinder"/>
  <axis xyz="0 -0.7071067811865475 0.7071067811865477"/>
  <dynamics damping="0.01" friction="0.5"/>
  <limit lower="-1.5707963267948966" upper="1.5707963267948966" effort="0.01" velocity="100"/>
</joint>

<link name="branch_56">
  <inertial>
   <mass value="1"/>
   <inertia ixx="0.00014439999999999999" ixy="0" ixz="0" iyy="0.00014439999999999999" iyz="0" izz="0.00014439999999999999"/>
  </inertial>
  <collision>
    <origin rpy="0 0 0" xyz="0 0 0"/>
    <geometry>
      <sphere radius="0.019"/>
    </geometry>
  </collision>
  <visual>
    <origin rpy="0 0 0" xyz="0 0 0"/>
    <geometry>
      <sphere radius="0.019"/>
    </geometry>
  </visual>
</link>

<joint name="joint_fixed_branch_56_cylinder_branch_56" type="fixed">
  <origin rpy="0 0 0" xyz="-0.19 0 0"/>
  <parent link="branch_56_cylinder"/>
  <child link="branch_56"/>
</joint>

<!--############################################################################
branch_60
##############################################################################-->
 <link name="branch_60_cylinder_stub">
  <inertial>
    <mass value="1"/>
    <inertia ixx="0.0005687499999999999" ixy="0" ixz="0" iyy="0.0005687499999999999" iyz="0" izz="0.0001"/>
  </inertial>
  <visual>
    <origin rpy="0 1.57 0" xyz="-0.0375 0 0"/>
    <geometry>
      <cylinder length="0.075" radius="0.02"/>
    </geometry>
  </visual>
  <collision>
    <origin rpy="0 1.57 0" xyz="-0.0375 0 0"/>
    <geometry>
      <cylinder length="0.075" radius="0.02"/>
    </geometry>
  </collision>
 </link>

<joint name="joint_fixed_head_branch_60_cylinder_stub" type="fixed">
  <origin rpy="0 0 0" xyz="-0.2 -1.2858791391047206e-17 -0.06999999999999999"/>
  <parent link="head"/>
  <child link="branch_60_cylinder_stub"/>
</joint>

<link name="branch_60_sphere_stub">
  <inertial>
   <mass value="1"/>
   <inertia ixx="0.00014439999999999999" ixy="0" ixz="0" iyy="0.00014439999999999999" iyz="0" izz="0.00014439999999999999"/>
  </inertial>
  <collision>
    <origin rpy="0 0 0" xyz="-0.095 0 0"/>
    <geometry>
      <sphere radius="0.019"/>
    </geometry>
  </collision>
  <visual>
    <origin rpy="0 0 0" xyz="-0.095 0 0"/>
    <geometry>
      <sphere radius="0.019"/>
    </geometry>
  </visual>
</link>

<joint name="joint_fixed_branch_60_cylinder_stub_branch_60_sphere_stub" type="fixed">
  <origin rpy="0 0 0" xyz="0 0 0"/>
  <parent link="branch_60_cylinder_stub"/>
  <child link="branch_60_sphere_stub"/>
</joint>

 <link name="branch_60_cylinder">
  <inertial>
    <mass value="1"/>
    <inertia ixx="0.0019749999999999998" ixy="0" ixz="0" iyy="0.0019749999999999998" iyz="0" izz="0.0001"/>
  </inertial>
  <visual>
    <origin rpy="0 -3.141592653589793 1.57" xyz="-0.095 -1.745121688784978e-17 -0.095"/>
    <geometry>
      <cylinder length="0.15" radius="0.02"/>
    </geometry>
  </visual>
  <collision>
    <origin rpy="0 -3.141592653589793 1.57" xyz="-0.095 -1.745121688784978e-17 -0.095"/>
    <geometry>
      <cylinder length="0.15" radius="0.02"/>
    </geometry>
  </collision>
 </link>

<joint name="joint_fixed_branch_60_sphere_stub_branch_60_cylinder" type="fixed">
  <origin rpy="0 0 0" xyz="0 0 0"/>
  <parent link="branch_60_sphere_stub"/>
  <child link="branch_60_cylinder"/>
</joint>

<link name="branch_60">
  <inertial>
   <mass value="1"/>
   <inertia ixx="0.00014439999999999999" ixy="0" ixz="0" iyy="0.00014439999999999999" iyz="0" izz="0.00014439999999999999"/>
  </inertial>
  <collision>
    <origin rpy="0 0 0" xyz="0 0 0"/>
    <geometry>
      <sphere radius="0.019"/>
    </geometry>
  </collision>
  <visual>
    <origin rpy="0 0 0" xyz="0 0 0"/>
    <geometry>
      <sphere radius="0.019"/>
    </geometry>
  </visual>
</link>

<joint name="joint_fixed_branch_60_cylinder_branch_60" type="fixed">
  <origin rpy="0 0 0" xyz="-0.095 -3.490243377569956e-17 -0.19"/>
  <parent link="branch_60_cylinder"/>
  <child link="branch_60"/>
</joint>

<!--############################################################################
branch_61
##############################################################################-->
 <link name="branch_61_cylinder">
  <inertial>
    <mass value="1"/>
    <inertia ixx="0.0019749999999999998" ixy="0" ixz="0" iyy="0.0019749999999999998" iyz="0" izz="0.0001"/>
  </inertial>
  <visual>
    <origin rpy="0 1.57 0" xyz="-0.095 0 0"/>
    <geometry>
      <cylinder length="0.15" radius="0.02"/>
    </geometry>
  </visual>
  <collision>
    <origin rpy="0 1.57 0" xyz="-0.095 0 0"/>
    <geometry>
      <cylinder length="0.15" radius="0.02"/>
    </geometry>
  </collision>
 </link>

<joint name="joint_revolute_branch_60_branch_61_cylinder_Z" type="revolute">
  <origin rpy="0 0 0" xyz="0 0 0"/>
  <parent link="branch_60"/>
  <child link="branch_61_cylinder"/>
  <axis xyz="0 -1.0 1.8369701987210297e-16"/>
  <dynamics damping="0.01" friction="0.5"/>
  <limit lower="-1.5707963267948966" upper="1.5707963267948966" effort="0.01" velocity="100"/>
</joint>

<link name="branch_61">
  <inertial>
   <mass value="1"/>
   <inertia ixx="0.00014439999999999999" ixy="0" ixz="0" iyy="0.00014439999999999999" iyz="0" izz="0.00014439999999999999"/>
  </inertial>
  <collision>
    <origin rpy="0 0 0" xyz="0 0 0"/>
    <geometry>
      <sphere radius="0.019"/>
    </geometry>
  </collision>
  <visual>
    <origin rpy="0 0 0" xyz="0 0 0"/>
    <geometry>
      <sphere radius="0.019"/>
    </geometry>
  </visual>
</link>

<joint name="joint_fixed_branch_61_cylinder_branch_61" type="fixed">
  <origin rpy="0 0 0" xyz="-0.19 0 0"/>
  <parent link="branch_61_cylinder"/>
  <child link="branch_61"/>
</joint>

<!--############################################################################
branch_62
##############################################################################-->
 <link name="branch_62_cylinder">
  <inertial>
    <mass value="1"/>
    <inertia ixx="0.0019749999999999998" ixy="0" ixz="0" iyy="0.0019749999999999998" iyz="0" izz="0.0001"/>
  </inertial>
  <visual>
    <origin rpy="0 1.57 0" xyz="-0.095 0 0"/>
    <geometry>
      <cylinder length="0.15" radius="0.02"/>
    </geometry>
  </visual>
  <collision>
    <origin rpy="0 1.57 0" xyz="-0.095 0 0"/>
    <geometry>
      <cylinder length="0.15" radius="0.02"/>
    </geometry>
  </collision>
 </link>

<joint name="joint_revolute_branch_61_branch_62_cylinder_Z" type="revolute">
  <origin rpy="0 0 0" xyz="0 0 0"/>
  <parent link="branch_61"/>
  <child link="branch_62_cylinder"/>
  <axis xyz="0 -1.0 1.8369701987210297e-16"/>
  <dynamics damping="0.01" friction="0.5"/>
  <limit lower="-1.5707963267948966" upper="1.5707963267948966" effort="0.01" velocity="100"/>
</joint>

<link name="branch_62">
  <inertial>
   <mass value="1"/>
   <inertia ixx="0.00014439999999999999" ixy="0" ixz="0" iyy="0.00014439999999999999" iyz="0" izz="0.00014439999999999999"/>
  </inertial>
  <collision>
    <origin rpy="0 0 0" xyz="0 0 0"/>
    <geometry>
      <sphere radius="0.019"/>
    </geometry>
  </collision>
  <visual>
    <origin rpy="0 0 0" xyz="0 0 0"/>
    <geometry>
      <sphere radius="0.019"/>
    </geometry>
  </visual>
</link>

<joint name="joint_fixed_branch_62_cylinder_branch_62" type="fixed">
  <origin rpy="0 0 0" xyz="-0.19 0 0"/>
  <parent link="branch_62_cylinder"/>
  <child link="branch_62"/>
</joint>

<!--############################################################################
branch_63
##############################################################################-->
 <link name="branch_63_cylinder">
  <inertial>
    <mass value="1"/>
    <inertia ixx="0.0019749999999999998" ixy="0" ixz="0" iyy="0.0019749999999999998" iyz="0" izz="0.0001"/>
  </inertial>
  <visual>
    <origin rpy="0 1.57 0" xyz="-0.095 0 0"/>
    <geometry>
      <cylinder length="0.15" radius="0.02"/>
    </geometry>
  </visual>
  <collision>
    <origin rpy="0 1.57 0" xyz="-0.095 0 0"/>
    <geometry>
      <cylinder length="0.15" radius="0.02"/>
    </geometry>
  </collision>
 </link>

<joint name="joint_revolute_branch_62_branch_63_cylinder_Z" type="revolute">
  <origin rpy="0 0 0" xyz="0 0 0"/>
  <parent link="branch_62"/>
  <child link="branch_63_cylinder"/>
  <axis xyz="0 -1.0 1.8369701987210297e-16"/>
  <dynamics damping="0.01" friction="0.5"/>
  <limit lower="-1.5707963267948966" upper="1.5707963267948966" effort="0.01" velocity="100"/>
</joint>

<link name="branch_63">
  <inertial>
   <mass value="1"/>
   <inertia ixx="0.00014439999999999999" ixy="0" ixz="0" iyy="0.00014439999999999999" iyz="0" izz="0.00014439999999999999"/>
  </inertial>
  <collision>
    <origin rpy="0 0 0" xyz="0 0 0"/>
    <geometry>
      <sphere radius="0.019"/>
    </geometry>
  </collision>
  <visual>
    <origin rpy="0 0 0" xyz="0 0 0"/>
    <geometry>
      <sphere radius="0.019"/>
    </geometry>
  </visual>
</link>

<joint name="joint_fixed_branch_63_cylinder_branch_63" type="fixed">
  <origin rpy="0 0 0" xyz="-0.19 0 0"/>
  <parent link="branch_63_cylinder"/>
  <child link="branch_63"/>
</joint>

<!--############################################################################
branch_64
##############################################################################-->
 <link name="branch_64_cylinder">
  <inertial>
    <mass value="1"/>
    <inertia ixx="0.0019749999999999998" ixy="0" ixz="0" iyy="0.0019749999999999998" iyz="0" izz="0.0001"/>
  </inertial>
  <visual>
    <origin rpy="0 1.57 0" xyz="-0.095 0 0"/>
    <geometry>
      <cylinder length="0.15" radius="0.02"/>
    </geometry>
  </visual>
  <collision>
    <origin rpy="0 1.57 0" xyz="-0.095 0 0"/>
    <geometry>
      <cylinder length="0.15" radius="0.02"/>
    </geometry>
  </collision>
 </link>

<joint name="joint_revolute_branch_63_branch_64_cylinder_Z" type="revolute">
  <origin rpy="0 0 0" xyz="0 0 0"/>
  <parent link="branch_63"/>
  <child link="branch_64_cylinder"/>
  <axis xyz="0 -1.0 1.8369701987210297e-16"/>
  <dynamics damping="0.01" friction="0.5"/>
  <limit lower="-1.5707963267948966" upper="1.5707963267948966" effort="0.01" velocity="100"/>
</joint>

<link name="branch_64">
  <inertial>
   <mass value="1"/>
   <inertia ixx="0.00014439999999999999" ixy="0" ixz="0" iyy="0.00014439999999999999" iyz="0" izz="0.00014439999999999999"/>
  </inertial>
  <collision>
    <origin rpy="0 0 0" xyz="0 0 0"/>
    <geometry>
      <sphere radius="0.019"/>
    </geometry>
  </collision>
  <visual>
    <origin rpy="0 0 0" xyz="0 0 0"/>
    <geometry>
      <sphere radius="0.019"/>
    </geometry>
  </visual>
</link>

<joint name="joint_fixed_branch_64_cylinder_branch_64" type="fixed">
  <origin rpy="0 0 0" xyz="-0.19 0 0"/>
  <parent link="branch_64_cylinder"/>
  <child link="branch_64"/>
</joint>

  <klampt package_root="../../.." default_acc_max="4" >
  </klampt>
</robot>
